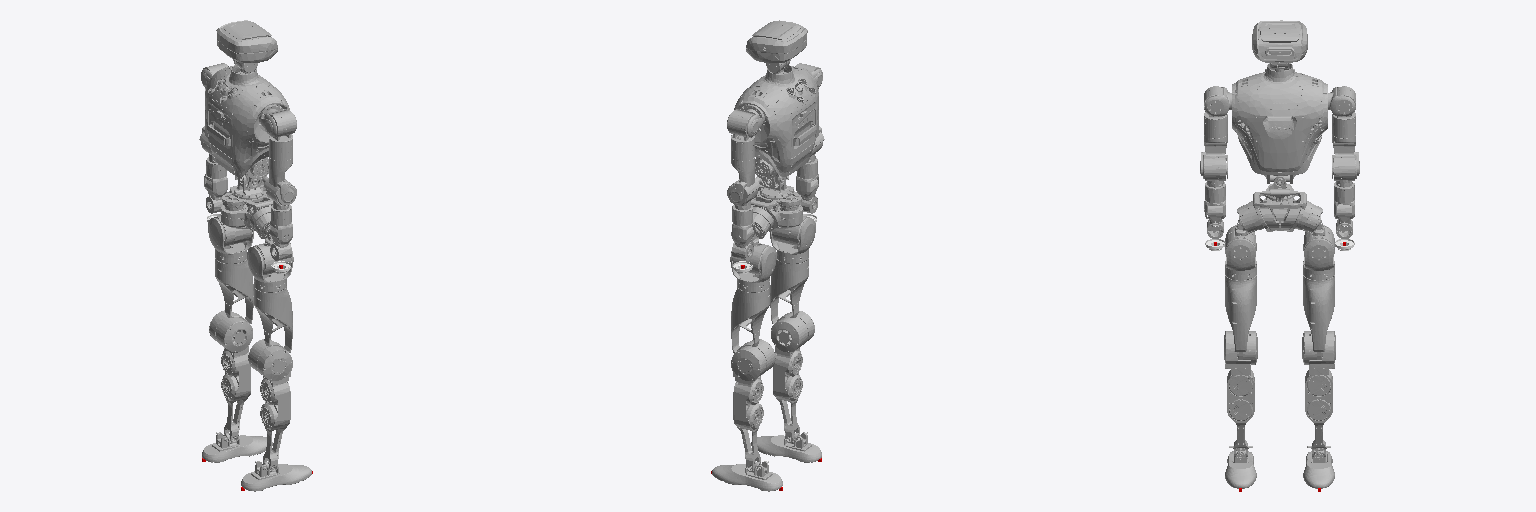
--- Facts derived from the render (not from the file) ---
3 views of the same robot in one strip: view 1: azimuth 30°, elevation 25°; view 2: azimuth 150°, elevation 25°; view 3: azimuth 270°, elevation 25° (orthographic).
Robot: HU_D04_01 — 78 links, 77 joints (63 revolute, 14 fixed); root link base_link; default pose: joints at zero except 4 at the middle of their limits (left_index_tip_joint = 1, left_middle_tip_joint = 1, left_ring_tip_joint = 1, left_pinky_tip_joint = 1).
Visible links, largest first — view 1: waist_pitch_link, right_knee_link, left_hip_yaw_link, head_pitch_link, left_knee_link, right_hip_yaw_link, base_link, right_ankle_roll_link, left_ankle_roll_link, right_shoulder_roll_link, left_hip_roll_link, right_hip_roll_link (+2 smaller); view 2: waist_pitch_link, left_knee_link, right_hip_yaw_link, head_pitch_link, right_knee_link, left_hip_yaw_link, base_link, left_ankle_roll_link, right_ankle_roll_link, left_shoulder_roll_link, right_hip_roll_link, left_hip_roll_link (+2 smaller); view 3: waist_pitch_link, base_link, left_knee_link, right_knee_link, head_pitch_link, right_hip_yaw_link, left_hip_yaw_link, left_hip_roll_link, right_hip_roll_link, right_ankle_roll_link, left_ankle_roll_link, left_elbow_link (+6 smaller).
Link boxes in pixels (<box>): waist_pitch_link: <box>205,65,289,188</box>; right_knee_link: <box>257,346,292,471</box>; left_hip_yaw_link: <box>215,258,253,352</box>; head_pitch_link: <box>216,20,277,72</box>; left_knee_link: <box>209,310,250,442</box>; right_hip_yaw_link: <box>248,286,292,373</box>; base_link: <box>221,185,272,238</box>; right_ankle_roll_link: <box>241,461,311,491</box>; left_ankle_roll_link: <box>202,432,272,462</box>; right_shoulder_roll_link: <box>269,110,295,160</box>; left_hip_roll_link: <box>208,218,253,263</box>; right_hip_roll_link: <box>247,247,293,292</box>; waist_pitch_link: <box>734,65,818,188</box>; left_knee_link: <box>731,346,766,471</box>; right_hip_yaw_link: <box>770,258,808,352</box>; head_pitch_link: <box>746,20,807,72</box>; right_knee_link: <box>773,311,814,442</box>; left_hip_yaw_link: <box>731,286,775,373</box>; base_link: <box>751,185,802,238</box>; left_ankle_roll_link: <box>712,461,782,491</box>; right_ankle_roll_link: <box>751,432,821,462</box>; left_shoulder_roll_link: <box>728,110,754,160</box>; right_hip_roll_link: <box>769,218,815,263</box>; left_hip_roll_link: <box>730,247,776,292</box>; waist_pitch_link: <box>1232,63,1327,183</box>; base_link: <box>1237,183,1322,233</box>; left_knee_link: <box>1305,331,1335,456</box>; right_knee_link: <box>1224,331,1254,456</box>; head_pitch_link: <box>1252,20,1307,68</box>; right_hip_yaw_link: <box>1225,275,1257,364</box>; left_hip_yaw_link: <box>1302,275,1334,364</box>; left_hip_roll_link: <box>1303,225,1334,280</box>; right_hip_roll_link: <box>1225,225,1256,280</box>; right_ankle_roll_link: <box>1225,446,1256,488</box>; left_ankle_roll_link: <box>1303,446,1334,488</box>; left_elbow_link: <box>1333,157,1354,202</box>.
Size in the robot's own frame: 0.2994 by 0.5293 by 1.62 metres.
Meshes: 67 distinct files referenced, 32 mesh visuals loaded (31 binary STL); not drawn: 36 (reference not matched to a file when rendering).

URDF robot description (HU_D04_01):
<?xml version="1.0" encoding="utf-8"?>
<robot
  name="HU_D04_01">

  <!-- <link name="root_link">
    <inertial>
      <origin xyz="0 0 0" rpy="0 0 0" />
      <mass value="0.001" />
      <inertia ixx="1E-10" ixy="0" ixz="0" iyy="1E-10" iyz="0" izz="1E-10" />
    </inertial>
  </link>
  <joint name="floating_base_joint" type="floating">
    <origin xyz="0.0 0.0 0.0" rpy="0 0 0" />
    <parent link="root_link" />
    <child link="base_link" />
  </joint> -->


  <link name="base_link">
    <inertial>
      <origin
        xyz="0.002916 -8E-06 0.041359"
        rpy="0 0 0" />
      <mass
        value="5.904962" />
      <inertia
        ixx="0.038209"
        ixy="4E-06"
        ixz="0.001989"
        iyy="0.013916"
        iyz="-8E-06"
        izz="0.040472" />
    </inertial>
    <visual>
      <origin
        xyz="0 0 0"
        rpy="0 0 0" />
      <geometry>
        <mesh
          filename="package://HU_D04_description/meshes/HU_D04_01/base_link.STL" />
      </geometry>
      <material
        name="">
        <color
          rgba="0.75294 0.75294 0.75294 1" />
      </material>
    </visual>
    <!-- <collision>
      <origin
        xyz="0 0 0"
        rpy="0 0 0" />
      <geometry>
        <mesh
          filename="package://HU_D04_description/meshes/HU_D04_01/base_link.STL" />
      </geometry>
    </collision> -->
  </link>
  <link name="left_hip_pitch_link">
    <inertial>
      <origin
        xyz="0.0019 0.001536 -0.086008"
        rpy="0 0 0" />
      <mass
        value="2.255011" />
      <inertia
        ixx="0.003233"
        ixy="2E-06"
        ixz="-1.3E-05"
        iyy="0.003816"
        iyz="3.5E-05"
        izz="0.002888" />
    </inertial>
    <visual>
      <origin
        xyz="0 0 0"
        rpy="0 0 0" />
      <geometry>
        <mesh
          filename="package://HU_D04_description/meshes/HU_D04_01/left_hip_pitch_link.STL" />
      </geometry>
      <material
        name="">
        <color
          rgba="0.75294 0.75294 0.75294 1" />
      </material>
    </visual>
    <!-- <collision>
      <origin
        xyz="0 0 0"
        rpy="0 0 0" />
      <geometry>
        <mesh
          filename="package://HU_D04_description/meshes/HU_D04_01/left_hip_pitch_link.STL" />
      </geometry>
    </collision> -->
  </link>
  <joint name="left_hip_pitch_joint"
    type="revolute">
    <origin
      xyz="0.017007 0.1283 0.0081917"
      rpy="0 0 0" />
    <parent
      link="base_link" />
    <child
      link="left_hip_pitch_link" />
    <axis
      xyz="0 0.90631 -0.42262" />
    <limit
      lower="-2.618"
      upper="2.618"
      effort="140"
      velocity="5" />
  </joint>
  <link name="left_hip_roll_link">
    <inertial>
      <origin
        xyz="0.00075 1E-05 -0.118609"
        rpy="0 0 0" />
      <mass
        value="2.121806" />
      <inertia
        ixx="0.004035"
        ixy="3E-06"
        ixz="-0.000137"
        iyy="0.004267"
        iyz="1E-06"
        izz="0.002342" />
    </inertial>
    <visual>
      <origin
        xyz="0 0 0"
        rpy="0 0 0" />
      <geometry>
        <mesh
          filename="package://HU_D04_description/meshes/HU_D04_01/left_hip_roll_link.STL" />
      </geometry>
      <material
        name="">
        <color
          rgba="0.75294 0.75294 0.75294 1" />
      </material>
    </visual>
    <!-- <collision>
      <origin
        xyz="0 0 0"
        rpy="0 0 0" />
      <geometry>
        <mesh
          filename="package://HU_D04_description/meshes/HU_D04_01/left_hip_roll_link.STL" />
      </geometry>
    </collision> -->
  </link>
  <joint name="left_hip_roll_joint"
    type="revolute">
    <origin
      xyz="-0.01 0.0016596 -0.0920417"
      rpy="0 0 0" />
    <parent
      link="left_hip_pitch_link" />
    <child
      link="left_hip_roll_link" />
    <axis
      xyz="1 0 0" />
    <limit
      lower="-0.8727"
      upper="2.094"
      effort="140"
      velocity="5" />
  </joint>
  <link name="left_hip_yaw_link">
    <inertial>
      <origin
        xyz="0.006364 0.000963 -0.143266"
        rpy="0 0 0" />
      <mass
        value="2.994098" />
      <inertia
        ixx="0.024104"
        ixy="9E-06"
        ixz="-0.001176"
        iyy="0.024609"
        iyz="0.000111"
        izz="0.004856" />
    </inertial>
    <visual>
      <origin
        xyz="0 0 0"
        rpy="0 0 0" />
      <geometry>
        <mesh
          filename="package://HU_D04_description/meshes/HU_D04_01/left_hip_yaw_link.STL" />
      </geometry>
      <material
        name="">
        <color
          rgba="0.75294 0.75294 0.75294 1" />
      </material>
    </visual>
    <!-- <collision>
      <origin
        xyz="0 0 0"
        rpy="0 0 0" />
      <geometry>
        <mesh
          filename="package://HU_D04_description/meshes/HU_D04_01/left_hip_yaw_link.STL" />
      </geometry>
    </collision> -->
  </link>
  <joint name="left_hip_yaw_joint"
    type="revolute">
    <origin
      xyz="0 0 -0.1774"
      rpy="0 0 0" />
    <parent
      link="left_hip_roll_link" />
    <child
      link="left_hip_yaw_link" />
    <axis
      xyz="0 0 1" />
    <limit
      lower="-2.618"
      upper="2.618"
      effort="140"
      velocity="5" />
  </joint>
  <link name="left_knee_link">
    <inertial>
      <origin
        xyz="0.008034 0.005502 -0.139341"
        rpy="0 0 0" />
      <mass
        value="3.004275" />
      <inertia
        ixx="0.026945"
        ixy="9.1E-05"
        ixz="8.3E-05"
        iyy="0.026541"
        iyz="-0.00215"
        izz="0.003135" />
    </inertial>
    <visual>
      <origin
        xyz="0 0 0"
        rpy="0 0 0" />
      <geometry>
        <mesh
          filename="package://HU_D04_description/meshes/HU_D04_01/left_knee_link.STL" />
      </geometry>
      <material
        name="">
        <color
          rgba="0.75294 0.75294 0.75294 1" />
      </material>
    </visual>
    <!-- <collision>
      <origin
        xyz="0 0 0"
        rpy="0 0 0" />
      <geometry>
        <mesh
          filename="package://HU_D04_description/meshes/HU_D04_01/left_knee_link.STL" />
      </geometry>
    </collision> -->
  </link>
  <joint name="left_knee_joint"
    type="revolute">
    <origin
      xyz="0 0 -0.1976"
      rpy="0 0 0" />
    <parent
      link="left_hip_yaw_link" />
    <child
      link="left_knee_link" />
    <axis
      xyz="0 1 0" />
    <limit
      lower="-0.087"
      upper="2.583"
      effort="140"
      velocity="5" />
  </joint>
  <link name="left_ankle_pitch_link">
    <inertial>
      <origin
        xyz="0 0 0.001077"
        rpy="0 0 0" />
      <mass
        value="0.042944" />
      <inertia
        ixx="4E-06"
        ixy="0"
        ixz="0"
        iyy="2E-06"
        iyz="0"
        izz="4E-06" />
    </inertial>
    <visual>
      <origin
        xyz="0 0 0"
        rpy="0 0 0" />
      <geometry>
        <mesh
          filename="package://HU_D04_description/meshes/HU_D04_01/left_ankle_pitch_link.STL" />
      </geometry>
      <material
        name="">
        <color
          rgba="0.75294 0.75294 0.75294 1" />
      </material>
    </visual>
    <!-- <collision>
      <origin
        xyz="0 0 0"
        rpy="0 0 0" />
      <geometry>
        <mesh
          filename="package://HU_D04_description/meshes/HU_D04_01/left_ankle_pitch_link.STL" />
      </geometry>
    </collision> -->
  </link>
  <joint name="left_ankle_pitch_joint"
    type="revolute">
    <origin
      xyz="0 0 -0.385"
      rpy="0 0 0" />
    <parent
      link="left_knee_link" />
    <child
      link="left_ankle_pitch_link" />
    <axis
      xyz="0 1 0" />
    <limit
      lower="-1.012"
      upper="0.611"
      effort="42"
      velocity="13.6" />
  </joint>
  <link name="left_ankle_roll_link">
    <inertial>
      <origin
        xyz="0.009720 0 -0.035233"
        rpy="0 0 0" />
      <mass
        value="1.206425" />
      <inertia
        ixx="0.000924"
        ixy="0"
        ixz="0.000471"
        iyy="0.004760"
        iyz="0"
        izz="0.004924" />
    </inertial>
    <visual>
      <origin
        xyz="0 0 0"
        rpy="0 0 0" />
      <geometry>
        <mesh
          filename="package://HU_D04_description/meshes/HU_D04_01/left_ankle_roll_link.STL" />
      </geometry>
      <material
        name="">
        <color
          rgba="0.75294 0.75294 0.75294 1" />
      </material>
    </visual>
    <collision>
      <origin rpy="0 0 0" xyz="0.018 0 -0.0535"/>
      <geometry>
        <box size="0.25 0.094 0.02"/>
      </geometry>
    </collision>
    <!-- <collision>
      <origin
        xyz="0 0 0"
        rpy="0 0 0" />
      <geometry>
        <mesh
          filename="package://HU_D04_description/meshes/HU_D04_01/left_ankle_roll_link.STL" />
      </geometry>
    </collision> -->
  </link>
  <joint name="left_ankle_roll_joint"
    type="revolute">
    <origin
      xyz="0 0 0"
      rpy="0 0 0" />
    <parent
      link="left_ankle_pitch_link" />
    <child
      link="left_ankle_roll_link" />
    <axis
      xyz="1 0 0" />
    <limit
      lower="-0.436"
      upper="0.436"
      effort="42"
      velocity="13.6" />
  </joint>

  <!-- Left Foot Contact -->
  <joint name="contact_foot_center_joint_L" type="fixed">
    <origin xyz="0.0 0 -0.0625" rpy="0 0 0" />
    <parent link="left_ankle_roll_link" />
    <child link="contact_foot_center_L" />
  </joint>
  <link name="contact_foot_center_L">
    <inertial>
      <origin xyz=".0 .0 .0" rpy="0 0 0" />
      <mass value="0.001" />
      <inertia ixx="0.0000001" ixy="0.0" ixz="0.0" iyy="0.0000001" iyz="0.0" izz="0.0000001" />
    </inertial>
    <visual>
      <origin xyz="0 0 0" rpy="0 0 0" />
      <geometry>
        <box size="0.01 0.01 0.01"/>
      </geometry>
      <material name="">
        <color rgba="1 0 0 1" />
      </material>
    </visual>
  </link>

  <joint name="contact_foot_heel_joint_L" type="fixed">
    <origin xyz="-0.106 0 -0.0625" rpy="0 0 0" />
    <parent link="left_ankle_roll_link" />
    <child link="contact_foot_heel_L" />
  </joint>
  <link name="contact_foot_heel_L">
    <inertial>
      <origin xyz=".0 .0 .0" rpy="0 0 0" />
      <mass value="0.001" />
      <inertia ixx="0.0000001" ixy="0.0" ixz="0.0" iyy="0.0000001" iyz="0.0" izz="0.0000001" />
    </inertial>
    <visual>
      <origin xyz="0 0 0" rpy="0 0 0" />
      <geometry>
        <box size="0.01 0.01 0.01"/>
      </geometry>
      <material name="">
        <color rgba="1 0 0 1" />
      </material>
    </visual>
  </link>

  <joint name="contact_foot_tip_joint_L" type="fixed">
    <origin xyz="0.154 0 -0.0625" rpy="0 0 0" />
    <parent link="left_ankle_roll_link" />
    <child link="contact_foot_tip_L" />
  </joint>
  <link name="contact_foot_tip_L">
    <inertial>
      <origin xyz=".0 .0 .0" rpy="0 0 0" />
      <mass value="0.001" />
      <inertia ixx="0.0000001" ixy="0.0" ixz="0.0" iyy="0.0000001" iyz="0.0" izz="0.0000001" />
    </inertial>
    <visual>
      <origin xyz="0 0 0" rpy="0 0 0" />
      <geometry>
        <box size="0.01 0.01 0.01"/>
      </geometry>
      <material name="">
        <color rgba="1 0 0 1" />
      </material>
    </visual>
  </link>

  <link name="right_hip_pitch_link">
    <inertial>
      <origin
        xyz="0.0019 -0.001536 -0.086008"
        rpy="0 0 0" />
      <mass
        value="2.253993" />
      <inertia
        ixx="0.003231"
        ixy="-1.8E-05"
        ixz="-1.2E-05"
        iyy="0.003814"
        iyz="-2E-06"
        izz="0.002888" />
    </inertial>
    <visual>
      <origin
        xyz="0 0 0"
        rpy="0 0 0" />
      <geometry>
        <mesh
          filename="package://HU_D04_description/meshes/HU_D04_01/right_hip_pitch_link.STL" />
      </geometry>
      <material
        name="">
        <color
          rgba="0.75294 0.75294 0.75294 1" />
      </material>
    </visual>
    <!-- <collision>
      <origin
        xyz="0 0 0"
        rpy="0 0 0" />
      <geometry>
        <mesh
          filename="package://HU_D04_description/meshes/HU_D04_01/right_hip_pitch_link.STL" />
      </geometry>
    </collision> -->
  </link>
  <joint name="right_hip_pitch_joint"
    type="revolute">
    <origin
      xyz="0.017007 -0.1283 0.0081917"
      rpy="0 0 0" />
    <parent
      link="base_link" />
    <child
      link="right_hip_pitch_link" />
    <axis
      xyz="0 0.90631 0.42262" />
    <limit
      lower="-2.618"
      upper="2.618"
      effort="140"
      velocity="5" />
  </joint>
  <link name="right_hip_roll_link">
    <inertial>
      <origin
        xyz="0.000764 1E-05 -0.118627"
        rpy="0 0 0" />
      <mass
        value="2.121322" />
      <inertia
        ixx="0.004031"
        ixy="3E-06"
        ixz="-0.000139"
        iyy="0.004262"
        iyz="1E-06"
        izz="0.00234" />
    </inertial>
    <visual>
      <origin
        xyz="0 0 0"
        rpy="0 0 0" />
      <geometry>
        <mesh
          filename="package://HU_D04_description/meshes/HU_D04_01/right_hip_roll_link.STL" />
      </geometry>
      <material
        name="">
        <color
          rgba="0.75294 0.75294 0.75294 1" />
      </material>
    </visual>
    <!-- <collision>
      <origin
        xyz="0 0 0"
        rpy="0 0 0" />
      <geometry>
        <mesh
          filename="package://HU_D04_description/meshes/HU_D04_01/right_hip_roll_link.STL" />
      </geometry>
    </collision> -->
  </link>
  <joint name="right_hip_roll_joint"
    type="revolute">
    <origin
      xyz="-0.01 -0.0016596 -0.0920417"
      rpy="0 0 0" />
    <parent
      link="right_hip_pitch_link" />
    <child
      link="right_hip_roll_link" />
    <axis
      xyz="1 0 0" />
    <limit
      lower="-2.094"
      upper="0.8727"
      effort="140"
      velocity="5" />
  </joint>
  <link name="right_hip_yaw_link">
    <inertial>
      <origin
        xyz="0.006367 -0.000835 -0.143269"
        rpy="0 0 0" />
      <mass
        value="2.994098" />
      <inertia
        ixx="0.024106"
        ixy="-8E-06"
        ixz="-0.001175"
        iyy="0.02461"
        iyz="-0.000165"
        izz="0.004856" />
    </inertial>
    <visual>
      <origin
        xyz="0 0 0"
        rpy="0 0 0" />
      <geometry>
        <mesh
          filename="package://HU_D04_description/meshes/HU_D04_01/right_hip_yaw_link.STL" />
      </geometry>
      <material
        name="">
        <color
          rgba="0.75294 0.75294 0.75294 1" />
      </material>
    </visual>
    <!-- <collision>
      <origin
        xyz="0 0 0"
        rpy="0 0 0" />
      <geometry>
        <mesh
          filename="package://HU_D04_description/meshes/HU_D04_01/right_hip_yaw_link.STL" />
      </geometry>
    </collision> -->
  </link>
  <joint name="right_hip_yaw_joint"
    type="revolute">
    <origin
      xyz="0 0 -0.1774"
      rpy="0 0 0" />
    <parent
      link="right_hip_roll_link" />
    <child
      link="right_hip_yaw_link" />
    <axis
      xyz="0 0 1" />
    <limit
      lower="-2.618"
      upper="2.618"
      effort="140"
      velocity="5" />
  </joint>
  <link name="right_knee_link">
    <inertial>
      <origin
        xyz="0.007541 -0.00542 -0.140219"
        rpy="0 0 0" />
      <mass
        value="2.944928" />
      <inertia
        ixx="0.026634"
        ixy="-9.1E-05"
        ixz="0.000115"
        iyy="0.026187"
        iyz="0.002135"
        izz="0.00303" />
    </inertial>
    <visual>
      <origin
        xyz="0 0 0"
        rpy="0 0 0" />
      <geometry>
        <mesh
          filename="package://HU_D04_description/meshes/HU_D04_01/right_knee_link.STL" />
      </geometry>
      <material
        name="">
        <color
          rgba="0.75294 0.75294 0.75294 1" />
      </material>
    </visual>
    <!-- <collision>
      <origin
        xyz="0 0 0"
        rpy="0 0 0" />
      <geometry>
        <mesh
          filename="package://HU_D04_description/meshes/HU_D04_01/right_knee_link.STL" />
      </geometry>
    </collision> -->
  </link>
  <joint name="right_knee_joint"
    type="revolute">
    <origin
      xyz="0 0 -0.1976"
      rpy="0 0 0" />
    <parent
      link="right_hip_yaw_link" />
    <child
      link="right_knee_link" />
    <axis
      xyz="0 1 0" />
    <limit
      lower="-0.087"
      upper="2.583"
      effort="140"
      velocity="5" />
  </joint>
  <link name="right_ankle_pitch_link">
    <inertial>
      <origin
        xyz="0 0 0.001077"
        rpy="0 0 0" />
      <mass
        value="0.042944" />
      <inertia
        ixx="4E-06"
        ixy="0"
        ixz="0"
        iyy="2E-06"
        iyz="0"
        izz="4E-06" />
    </inertial>
    <visual>
      <origin
        xyz="0 0 0"
        rpy="0 0 0" />
      <geometry>
        <mesh
          filename="package://HU_D04_description/meshes/HU_D04_01/right_ankle_pitch_link.STL" />
      </geometry>
      <material
        name="">
        <color
          rgba="0.75294 0.75294 0.75294 1" />
      </material>
    </visual>
    <!-- <collision>
      <origin
        xyz="0 0 0"
        rpy="0 0 0" />
      <geometry>
        <mesh
          filename="package://HU_D04_description/meshes/HU_D04_01/right_ankle_pitch_link.STL" />
      </geometry>
    </collision> -->
  </link>
  <joint name="right_ankle_pitch_joint"
    type="revolute">
    <origin
      xyz="0 0 -0.385"
      rpy="0 0 0" />
    <parent
      link="right_knee_link" />
    <child
      link="right_ankle_pitch_link" />
    <axis
      xyz="0 1 0" />
    <limit
      lower="-1.012"
      upper="0.611"
      effort="42"
      velocity="13.6" />
  </joint>
  <link name="right_ankle_roll_link">
    <inertial>
      <origin
        xyz="0.009720 0 -0.035233"
        rpy="0 0 0" />
      <mass
        value="1.206425" />
      <inertia
        ixx="0.000924"
        ixy="0"
        ixz="0.000471"
        iyy="0.004760"
        iyz="0"
        izz="0.004924" />
    </inertial>
    <visual>
      <origin
        xyz="0 0 0"
        rpy="0 0 0" />
      <geometry>
        <mesh
          filename="package://HU_D04_description/meshes/HU_D04_01/right_ankle_roll_link.STL" />
      </geometry>
      <material
        name="">
        <color
          rgba="0.75294 0.75294 0.75294 1" />
      </material>
    </visual>
    <collision>
      <origin rpy="0 0 0" xyz="0.018 0 -0.0535"/>
      <geometry>
        <box size="0.25 0.094 0.02"/>
      </geometry>
    </collision>
    <!-- <collision>
      <origin
        xyz="0 0 0"
        rpy="0 0 0" />
      <geometry>
        <mesh
          filename="package://HU_D04_description/meshes/HU_D04_01/right_ankle_roll_link.STL" />
      </geometry>
    </collision> -->
  </link>
  <joint name="right_ankle_roll_joint"
    type="revolute">
    <origin
      xyz="0 0 0"
      rpy="0 0 0" />
    <parent
      link="right_ankle_pitch_link" />
    <child
      link="right_ankle_roll_link" />
    <axis
      xyz="1 0 0" />
    <limit
      lower="-0.436"
      upper="0.436"
      effort="42"
      velocity="13.6" />
  </joint>

  <!-- Right Foot Contact -->
  <joint name="contact_foot_center_joint_R" type="fixed">
    <origin xyz="0.0 0 -0.0625" rpy="0 0 0" />
    <parent link="right_ankle_roll_link" />
    <child link="contact_foot_center_R" />
  </joint>
  <link name="contact_foot_center_R">
    <inertial>
      <origin xyz=".0 .0 .0" rpy="0 0 0" />
      <mass value="0.001" />
      <inertia ixx="0.0000001" ixy="0.0" ixz="0.0" iyy="0.0000001" iyz="0.0" izz="0.0000001" />
    </inertial>
    <visual>
      <origin xyz="0 0 0" rpy="0 0 0" />
      <geometry>
        <box size="0.01 0.01 0.01"/>
      </geometry>
      <material name="">
        <color rgba="1 0 0 1" />
      </material>
    </visual>
  </link>

  <joint name="contact_foot_heel_joint_R" type="fixed">
    <origin xyz="-0.106 0 -0.0625" rpy="0 0 0" />
    <parent link="right_ankle_roll_link" />
    <child link="contact_foot_heel_R" />
  </joint>
  <link name="contact_foot_heel_R">
    <inertial>
      <origin xyz=".0 .0 .0" rpy="0 0 0" />
      <mass value="0.001" />
      <inertia ixx="0.0000001" ixy="0.0" ixz="0.0" iyy="0.0000001" iyz="0.0" izz="0.0000001" />
    </inertial>
    <visual>
      <origin xyz="0 0 0" rpy="0 0 0" />
      <geometry>
        <box size="0.01 0.01 0.01"/>
      </geometry>
      <material name="">
        <color rgba="1 0 0 1" />
      </material>
    </visual>
  </link>

  <joint name="contact_foot_tip_joint_R" type="fixed">
    <origin xyz="0.154 0 -0.0625" rpy="0 0 0" />
    <parent link="right_ankle_roll_link" />
    <child link="contact_foot_tip_R" />
  </joint>
  <link name="contact_foot_tip_R">
    <inertial>
      <origin xyz=".0 .0 .0" rpy="0 0 0" />
      <mass value="0.001" />
      <inertia ixx="0.0000001" ixy="0.0" ixz="0.0" iyy="0.0000001" iyz="0.0" izz="0.0000001" />
    </inertial>
    <visual>
      <origin xyz="0 0 0" rpy="0 0 0" />
      <geometry>
        <box size="0.01 0.01 0.01"/>
      </geometry>
      <material name="">
        <color rgba="1 0 0 1" />
      </material>
    </visual>
  </link>

  <link name="waist_yaw_link">
    <inertial>
      <origin
        xyz="0.019885 -0.000163 0.029632"
        rpy="0 0 0" />
      <mass
        value="0.654749" />
      <inertia
        ixx="0.000616"
        ixy="-5E-06"
        ixz="-2.1E-05"
        iyy="0.001108"
        iyz="1E-06"
        izz="0.001156" />
    </inertial>
    <visual>
      <origin
        xyz="0 0 0"
        rpy="0 0 0" />
      <geometry>
        <mesh
          filename="package://HU_D04_description/meshes/HU_D04_01/waist_yaw_link.STL" />
      </geometry>
      <material
        name="">
        <color
          rgba="0.75294 0.75294 0.75294 1" />
      </material>
    </visual>
    <!-- <collision>
      <origin
        xyz="0 0 0"
        rpy="0 0 0" />
      <geometry>
        <mesh
          filename="package://HU_D04_description/meshes/HU_D04_01/waist_yaw_link.STL" />
      </geometry>
    </collision> -->
  </link>
  <joint name="waist_yaw_joint"
    type="revolute">
    <origin
      xyz="0 0 0.10239"
      rpy="0 0 0" />
    <parent
      link="base_link" />
    <child
      link="waist_yaw_link" />
    <axis
      xyz="0 0 1" />
    <limit
      lower="-2.618"
      upper="2.618"
      effort="42"
      velocity="13.6" />
  </joint>
  <link name="waist_roll_link">
    <inertial>
      <origin
        xyz="0 0 -0.000149"
        rpy="0 0 0" />
      <mass
        value="0.291501" />
      <inertia
        ixx="0.00016"
        ixy="0"
        ixz="0"
        iyy="3.6E-05"
        iyz="0"
        izz="0.000164" />
    </inertial>
    <visual>
      <origin
        xyz="0 0 0"
        rpy="0 0 0" />
      <geometry>
        <mesh
          filename="package://HU_D04_description/meshes/HU_D04_01/waist_roll_link.STL" />
      </geometry>
      <material
        name="">
        <color
          rgba="0.75294 0.75294 0.75294 1" />
      </material>
    </visual>
    <!-- <collision>
      <origin
        xyz="0 0 0"
        rpy="0 0 0" />
      <geometry>
        <mesh
          filename="package://HU_D04_description/meshes/HU_D04_01/waist_roll_link.STL" />
      </geometry>
    </collision> -->
  </link>
  <joint name="waist_roll_joint"
    type="revolute">
    <origin
      xyz="0 0 0.057"
      rpy="0 0 0" />
    <parent
      link="waist_yaw_link" />
    <child
      link="waist_roll_link" />
    <axis
      xyz="1 0 0" />
    <limit
      lower="-0.524"
      upper="0.524"
      effort="42"
      velocity="13.6" />
  </joint>
  <link name="waist_pitch_link">
    <inertial>
      <origin
        xyz="-0.006815 0.000038 0.196229"
        rpy="0 0 0" />
      <mass
        value="11.882244" />
      <inertia
        ixx="0.169231"
        ixy="0.000065"
        ixz="0.000953"
        iyy="0.136241"
        iyz="-0.000057"
        izz="0.104458" />
    </inertial>
    <visual>
      <origin
        xyz="0 0 0"
        rpy="0 0 0" />
      <geometry>
        <mesh
          filename="package://HU_D04_description/meshes/HU_D04_01/waist_pitch_link.STL" />
      </geometry>
      <material
        name="">
        <color
          rgba="0.75294 0.75294 0.75294 1" />
      </material>
    </visual>
    <!-- <collision>
      <origin
        xyz="0 0 0"
        rpy="0 0 0" />
      <geometry>
        <mesh
          filename="package://HU_D04_description/meshes/HU_D04_01/waist_pitch_link.STL" />
      </geometry>
    </collision> -->
  </link>
  <joint name="waist_pitch_joint"
    type="revolute">
    <origin
      xyz="0 0 0"
      rpy="0 0 0" />
    <parent
      link="waist_roll_link" />
    <child
      link="waist_pitch_link" />
    <axis
      xyz="0 1 0" />
    <limit
      lower="-0.524"
      upper="0.785"
      effort="42"
      velocity="13.6" />
  </joint>
  
  <link name="left_shoulder_pitch_link">
    <inertial>
      <origin
        xyz="0.003151 0.031104 -2.2E-05"
        rpy="0 0 0" />
      <mass
        value="0.244765" />
      <inertia
        ixx="0.000253"
        ixy="-2.3E-05"
        ixz="0"
        iyy="0.000367"
        iyz="0"
        izz="0.000429" />
    </inertial>
    <visual>
      <origin
        xyz="0 0 0"
        rpy="0 0 0" />
      <geometry>
        <mesh
          filename="package://HU_D04_description/meshes/HU_D04_01/left_shoulder_pitch_link.STL" />
      </geometry>
      <material
        name="">
        <color
          rgba="0.75294 0.75294 0.75294 1" />
      </material>
    </visual>
    <!-- <collision>
      <origin
        xyz="0 0 0"
        rpy="0 0 0" />
      <geometry>
        <mesh
          filename="package://HU_D04_description/meshes/HU_D04_01/left_shoulder_pitch_link.STL" />
      </geometry>
    </collision> -->
  </link>
  <joint name="left_shoulder_pitch_joint"
    type="revolute">
    <origin
      xyz="0 0.1589 0.2822"
      rpy="0 0 0" />
    <parent
      link="waist_pitch_link" />
    <child
      link="left_shoulder_pitch_link" />
    <axis
      xyz="0 1 0" />
    <limit
      lower="-2.792"
      upper="2.792"
      effort="42"
      velocity="19.6" />
  </joint>
  <link name="left_shoulder_roll_link">
    <inertial>
      <origin
        xyz="0.003525 8.8E-05 -0.046695"
        rpy="0 0 0" />
      <mass
        value="1.740745" />
      <inertia
        ixx="0.004948"
        ixy="0"
        ixz="-0.000258"
        iyy="0.004931"
        iyz="2E-06"
        izz="0.001384" />
    </inertial>
    <visual>
      <origin
        xyz="0 0 0"
        rpy="0 0 0" />
      <geometry>
        <mesh
          filename="package://HU_D04_description/meshes/HU_D04_01/left_shoulder_roll_link.STL" />
      </geometry>
      <material
        name="">
        <color
          rgba="0.75294 0.75294 0.75294 1" />
      </material>
    </visual>
    <!-- <collision>
      <origin
        xyz="0 0 0"
        rpy="0 0 0" />
      <geometry>
        <mesh
          filename="package://HU_D04_description/meshes/HU_D04_01/left_shoulder_roll_link.STL" />
      </geometry>
    </collision> -->
  </link>
  <joint name="left_shoulder_roll_joint"
    type="revolute">
    <origin
      xyz="0 0.055 0"
      rpy="0 0 0" />
    <parent
      link="left_shoulder_pitch_link" />
    <child
      link="left_shoulder_roll_link" />
    <axis
      xyz="1 0 0" />
    <limit
      lower="-0.087"
      upper="3.229"
      effort="42"
      velocity="19.6" />
  </joint>
  <link name="left_shoulder_yaw_link">
    <inertial>
      <origin
        xyz="-0.010067 0.003571 -0.065207"
        rpy="0 0 0" />
      <mass
        value="0.307657" />
      <inertia
        ixx="0.000874"
        ixy="-8E-06"
        ixz="-1.9E-05"
        iyy="0.000738"
        iyz="3.4E-05"
        izz="0.000405" />
    </inertial>
    <visual>
      <origin
        xyz="0 0 0"
        rpy="0 0 0" />
      <geometry>
        <mesh
          filename="package://HU_D04_description/meshes/HU_D04_01/left_shoulder_yaw_link.STL" />
      </geometry>
      <material
        name="">
        <color
          rgba="0.75294 0.75294 0.75294 1" />
      </material>
    </visual>
    <!-- <collision>
      <origin
        xyz="0 0 0"
        rpy="0 0 0" />
      <geometry>
        <mesh
          filename="package://HU_D04_description/meshes/HU_D04_01/left_shoulder_yaw_link.STL" />
      </geometry>
    </collision> -->
  </link>
  <joint name="left_shoulder_yaw_joint"
    type="revolute">
    <origin
      xyz="0 0 -0.1306"
      rpy="0 0 0" />
    <parent
      link="left_shoulder_roll_link" />
    <child
      link="left_shoulder_yaw_link" />
    <axis
      xyz="0 0 1" />
    <limit
      lower="-3.403"
      upper="1.571"
      effort="42"
      velocity="19.6" />
  </joint>
  <link name="left_elbow_link">
    <inertial>
      <origin
        xyz="0.000057 0.004497 -0.027441"
        rpy="0 0 0" />
      <mass
        value="1.275459" />
      <inertia
        ixx="0.002852"
        ixy="-0.000003"
        ixz="0.000017"
        iyy="0.002876"
        iyz="-0.000129"
        izz="0.000888" />
    </inertial>
    <visual>
      <origin
        xyz="0 0 0"
        rpy="0 0 0" />
      <geometry>
        <mesh
          filename="package://HU_D04_description/meshes/HU_D04_01/left_elbow_link.STL" />
      </geometry>
      <material
        name="">
        <color
          rgba="0.75294 0.75294 0.75294 1" />
      </material>
    </visual>
    <!-- <collision>
      <origin
        xyz="0 0 0"
        rpy="0 0 0" />
      <geometry>
        <mesh
          filename="package://HU_D04_description/meshes/HU_D04_01/left_elbow_link.STL" />
      </geometry>
    </collision> -->
  </link>
  <joint name="left_elbow_joint"
    type="revolute">
    <origin
      xyz="0 0 -0.1157"
      rpy="0 0 0" />
    <parent
      link="left_shoulder_yaw_link" />
    <child
      link="left_elbow_link" />
    <axis
      xyz="0 1 0" />
    <limit
      lower="-2.443"
      upper="1.571"
      effort="42"
      velocity="19.6" />
  </joint>
  <link name="left_wrist_yaw_link">
    <inertial>
      <origin
        xyz="-0.002420 0.000421 -0.014840"
        rpy="0 0 0" />
      <mass
        value="0.132906" />
      <inertia
        ixx="0.000145"
        ixy="0"
        ixz="0"
        iyy="0.000086"
        iyz="0.000001"
        izz="0.000142" />
    </inertial>
    <visual>
      <origin
        xyz="0 0 0"
        rpy="0 0 0" />
      <geometry>
        <mesh
          filename="package://HU_D04_description/meshes/HU_D04_01/left_wrist_yaw_link.STL" />
      </geometry>
      <material
        name="">
        <color
          rgba="0.75294 0.75294 0.75294 1" />
      </material>
    </visual>
    <!-- <collision>
      <origin
        xyz="0 0 0"
        rpy="0 0 0" />
      <geometry>
        <mesh
          filename="package://HU_D04_description/meshes/HU_D04_01/left_wrist_yaw_link.STL" />
      </geometry>
    </collision> -->
  </link>
  <joint name="left_wrist_yaw_joint"
    type="revolute">
    <origin
      xyz="0 0.001 -0.1188"
      rpy="0 0 0" />
    <parent
      link="left_elbow_link" />
    <child
      link="left_wrist_yaw_link" />
    <axis
      xyz="0 0 1" />
    <limit
      lower="-2.356"
      upper="0.785"
      effort="19"
      velocity="13" />
  </joint>
  <link name="left_wrist_pitch_link">
    <inertial>
      <origin
        xyz="0.001436 0.001303 -0.032233"
        rpy="0 0 0" />
      <mass
        value="0.658602" />
      <inertia
        ixx="0.000952"
        ixy="0.000001"
        ixz="0.000028"
        iyy="0.000963"
        iyz="-0.000024"
        izz="0.000296" />
    </inertial>
    <visual>
      <origin
        xyz="0 0 0"
        rpy="0 0 0" />
      <geometry>
        <mesh
          filename="package://HU_D04_description/meshes/HU_D04_01/left_wrist_pitch_link.STL" />
      </geometry>
      <material
        name="">
        <color
          rgba="0.75294 0.75294 0.75294 1" />
      </material>
    </visual>
    <!-- <collision>
      <origin
        xyz="0 0 0"
        rpy="0 0 0" />
      <geometry>
        <mesh
          filename="package://HU_D04_description/meshes/HU_D04_01/left_wrist_pitch_link.STL" />
      </geometry>
    </collision> -->
  </link>
  <joint name="left_wrist_pitch_joint"
    type="revolute">
    <origin
      xyz="0 0 -0.0342"
      rpy="0 0 0" />
    <parent
      link="left_wrist_yaw_link" />
    <child
      link="left_wrist_pitch_link" />
    <axis
      xyz="0 1 0" />
    <limit
      lower="-1.571"
      upper="1.571"
      effort="19"
      velocity="13" />
  </joint>
  <link name="left_wrist_roll_link">
    <inertial>
      <origin
        xyz="-0.00051 -8.9E-05 -0.029603"
        rpy="0 0 0" />
      <mass
        value="0.302626" />
      <inertia
        ixx="0.000231"
        ixy="0"
        ixz="0.000001"
        iyy="0.000313"
        iyz="0"
        izz="0.000308" />
    </inertial>
    <visual>
      <origin
        xyz="0 0 0"
        rpy="0 0 0" />
      <geometry>
        <mesh
          filename="package://HU_D04_description/meshes/HU_D04_01/left_wrist_roll_short_link.STL" />
      </geometry>
      <material
        name="">
        <color
          rgba="0.75294 0.75294 0.75294 1" />
      </material>
    </visual>
    <!-- <collision>
      <origin
        xyz="0 0 0"
        rpy="0 0 0" />
      <geometry>
        <mesh
          filename="package://HU_D04_description/meshes/HU_D04_01/left_wrist_roll_short_link.STL" />
      </geometry>
    </collision> -->
  </link>
  <joint name="left_wrist_roll_joint"
    type="revolute">
    <origin
      xyz="0 0 -0.065"
      rpy="0 0 0" />
    <parent
      link="left_wrist_pitch_link" />
    <child
      link="left_wrist_roll_link" />
    <axis
      xyz="1 0 0" />
    <limit
      lower="-1.571"
      upper="1.571"
      effort="19"
      velocity="13" />
  </joint>

  <!-- Left hand Contact -->
  <joint name="left_hand_contact_joint" type="fixed">
    <origin xyz="0 0 -0.058" rpy="0 0 0" />
    <parent link="left_wrist_roll_link" />
    <child link="left_hand_contact" />
  </joint>
  <link name="left_hand_contact">
    <inertial>
      <origin xyz=".0 .0 .0" rpy="0 0 0" />
      <mass value="0.001" />
      <inertia 
        ixx="0.0000001" 
        ixy="0.0" 
        ixz="0.0" 
        iyy="0.0000001" 
        iyz="0.0" 
        izz="0.0000001" />
    </inertial>
    <visual>
      <origin xyz="0 0 0" rpy="0 0 0" />
      <geometry>
        <box size="0.01 0.01 0.01"/>
      </geometry>
      <material name="">
        <color rgba="1 0 0 1" />
      </material>
    </visual>
  </link>

  <!-- Left hand For Manipulation -->
  <joint name="left_hand_manip_joint" type="fixed">
    <origin xyz="0 0 -0.058" rpy="0 1.5708 0" />
    <parent link="left_wrist_roll_link" />
    <child link="left_hand_manip" />
  </joint>
  <link name="left_hand_manip">
    <inertial>
      <origin xyz=".0 .0 .0" rpy="0 0 0" />
      <mass value="0.001" />
      <inertia 
        ixx="0.0000001" 
        ixy="0.0" 
        ixz="0.0" 
        iyy="0.0000001" 
        iyz="0.0" 
        izz="0.0000001" />
    </inertial>
    <visual>
      <origin xyz="0 0 0" rpy="0 0 0" />
      <geometry>
        <box size="0.01 0.01 0.01"/>
      </geometry>
      <material name="">
        <color rgba="1 0 0 1" />
      </material>
    </visual>
  </link>

  <link name="right_shoulder_pitch_link">
    <inertial>
      <origin
        xyz="0.003151 -0.031104 -2.2E-05"
        rpy="0 0 0" />
      <mass
        value="0.244765" />
      <inertia
        ixx="0.000253"
        ixy="2.3E-05"
        ixz="0"
        iyy="0.000367"
        iyz="0"
        izz="0.000429" />
    </inertial>
    <visual>
      <origin
        xyz="0 0 0"
        rpy="0 0 0" />
      <geometry>
        <mesh
          filename="package://HU_D04_description/meshes/HU_D04_01/right_shoulder_pitch_link.STL" />
      </geometry>
      <material
        name="">
        <color
          rgba="0.75294 0.75294 0.75294 1" />
      </material>
    </visual>
    <!-- <collision>
      <origin
        xyz="0 0 0"
        rpy="0 0 0" />
      <geometry>
        <mesh
          filename="package://HU_D04_description/meshes/HU_D04_01/right_shoulder_pitch_link.STL" />
      </geometry>
    </collision> -->
  </link>
  <joint name="right_shoulder_pitch_joint"
    type="revolute">
    <origin
      xyz="0 -0.1589 0.2822"
      rpy="0 0 0" />
    <parent
      link="waist_pitch_link" />
    <child
      link="right_shoulder_pitch_link" />
    <axis
      xyz="0 1 0" />
    <limit
      lower="-2.792"
      upper="2.792"
      effort="42"
      velocity="19.6" />
  </joint>
  <link name="right_shoulder_roll_link">
    <inertial>
      <origin
        xyz="0.003553 8E-05 -0.046159"
        rpy="0 0 0" />
      <mass
        value="1.727406" />
      <inertia
        ixx="0.00488"
        ixy="2E-06"
        ixz="-0.000255"
        iyy="0.004864"
        iyz="1E-06"
        izz="0.001378" />
    </inertial>
    <visual>
      <origin
        xyz="0 0 0"
        rpy="0 0 0" />
      <geometry>
        <mesh
          filename="package://HU_D04_description/meshes/HU_D04_01/right_shoulder_roll_link.STL" />
      </geometry>
      <material
        name="">
        <color
          rgba="0.75294 0.75294 0.75294 1" />
      </material>
    </visual>
    <!-- <collision>
      <origin
        xyz="0 0 0"
        rpy="0 0 0" />
      <geometry>
        <mesh
          filename="package://HU_D04_description/meshes/HU_D04_01/right_shoulder_roll_link.STL" />
      </geometry>
    </collision> -->
  </link>
  <joint name="right_shoulder_roll_joint"
    type="revolute">
    <origin
      xyz="0 -0.055 0"
      rpy="0 0 0" />
    <parent
      link="right_shoulder_pitch_link" />
    <child
      link="right_shoulder_roll_link" />
    <axis
      xyz="1 0 0" />
    <limit
      lower="-3.229"
      upper="0.087"
      effort="42"
      velocity="19.6" />
  </joint>
  <link name="right_shoulder_yaw_link">
    <inertial>
      <origin
        xyz="-0.009999 -0.003523 -0.06579"
        rpy="0 0 0" />
      <mass
        value="0.306436" />
      <inertia
        ixx="0.000871"
        ixy="9E-06"
        ixz="-1.9E-05"
        iyy="0.000736"
        iyz="-3.8E-05"
        izz="0.000405" />
    </inertial>
    <visual>
      <origin
        xyz="0 0 0"
        rpy="0 0 0" />
      <geometry>
        <mesh
          filename="package://HU_D04_description/meshes/HU_D04_01/right_shoulder_yaw_link.STL" />
      </geometry>
      <material
        name="">
        <color
          rgba="0.75294 0.75294 0.75294 1" />
      </material>
    </visual>
    <!-- <collision>
      <origin
        xyz="0 0 0"
        rpy="0 0 0" />
      <geometry>
        <mesh
          filename="package://HU_D04_description/meshes/HU_D04_01/right_shoulder_yaw_link.STL" />
      </geometry>
    </collision> -->
  </link>
  <joint name="right_shoulder_yaw_joint"
    type="revolute">
    <origin
      xyz="0 0 -0.1306"
      rpy="0 0 0" />
    <parent
      link="right_shoulder_roll_link" />
    <child
      link="right_shoulder_yaw_link" />
    <axis
      xyz="0 0 1" />
    <limit
      lower="-1.571"
      upper="3.403"
      effort="42"
      velocity="19.6" />
  </joint>
  <link name="right_elbow_link">
    <inertial>
      <origin
        xyz="0.000057 -0.004497 -0.027441"
        rpy="0 0 0" />
      <mass
        value="1.275459" />
      <inertia
        ixx="0.002852"
        ixy="0.000003"
        ixz="0.000017"
        iyy="0.002876"
        iyz="0.000129"
        izz="0.000888" />
    </inertial>
    <visual>
      <origin
        xyz="0 0 0"
        rpy="0 0 0" />
      <geometry>
        <mesh
          filename="package://HU_D04_description/meshes/HU_D04_01/right_elbow_link.STL" />
      </geometry>
      <material
        name="">
        <color
          rgba="0.75294 0.75294 0.75294 1" />
      </material>
    </visual>
    <!-- <collision>
      <origin
        xyz="0 0 0"
        rpy="0 0 0" />
      <geometry>
        <mesh
          filename="package://HU_D04_description/meshes/HU_D04_01/right_elbow_link.STL" />
      </geometry>
    </collision> -->
  </link>
  <joint name="right_elbow_joint"
    type="revolute">
    <origin
      xyz="0 0 -0.1157"
      rpy="0 0 0" />
    <parent
      link="right_shoulder_yaw_link" />
    <child
      link="right_elbow_link" />
    <axis
      xyz="0 1 0" />
    <limit
      lower="-2.443"
      upper="1.571"
      effort="42"
      velocity="19.6" />
  </joint>
  <link name="right_wrist_yaw_link">
    <inertial>
      <origin
        xyz="-0.002420 -0.000421 -0.014840"
        rpy="0 0 0" />
      <mass
        value="0.132906" />
      <inertia
        ixx="0.000145"
        ixy="0"
        ixz="0"
        iyy="0.000086"
        iyz="-0.000001"
        izz="0.000142" />
    </inertial>
    <visual>
      <origin
        xyz="0 0 0"
        rpy="0 0 0" />
      <geometry>
        <mesh
          filename="package://HU_D04_description/meshes/HU_D04_01/right_wrist_yaw_link.STL" />
      </geometry>
      <material
        name="">
        <color
          rgba="0.75294 0.75294 0.75294 1" />
      </material>
    </visual>
    <!-- <collision>
      <origin
        xyz="0 0 0"
        rpy="0 0 0" />
      <geometry>
        <mesh
          filename="package://HU_D04_description/meshes/HU_D04_01/right_wrist_yaw_link.STL" />
      </geometry>
    </collision> -->
  </link>
  <joint name="right_wrist_yaw_joint"
    type="revolute">
    <origin
      xyz="0 -0.001 -0.1188"
      rpy="0 0 0" />
    <parent
      link="right_elbow_link" />
    <child
      link="right_wrist_yaw_link" />
    <axis
      xyz="0 0 1" />
    <limit
      lower="-0.785"
      upper="2.356"
      effort="19"
      velocity="13" />
  </joint>
  <link name="right_wrist_pitch_link">
    <inertial>
      <origin
        xyz="0.001436 -0.001303 -0.032233"
        rpy="0 0 0" />
      <mass
        value="0.658602" />
      <inertia
        ixx="0.000952"
        ixy="-0.000001"
        ixz="0.000028"
        iyy="0.000963"
        iyz="0.000024"
        izz="0.000296" />
    </inertial>
    <visual>
      <origin
        xyz="0 0 0"
        rpy="0 0 0" />
      <geometry>
        <mesh
          filename="package://HU_D04_description/meshes/HU_D04_01/right_wrist_pitch_link.STL" />
      </geometry>
      <material
        name="">
        <color
          rgba="0.75294 0.75294 0.75294 1" />
      </material>
    </visual>
    <!-- <collision>
      <origin
        xyz="0 0 0"
        rpy="0 0 0" />
      <geometry>
        <mesh
          filename="package://HU_D04_description/meshes/HU_D04_01/right_wrist_pitch_link.STL" />
      </geometry>
    </collision> -->
  </link>
  <joint name="right_wrist_pitch_joint"
    type="revolute">
    <origin
      xyz="0 0 -0.0342"
      rpy="0 0 0" />
    <parent
      link="right_wrist_yaw_link" />
    <child
      link="right_wrist_pitch_link" />
    <axis
      xyz="0 1 0" />
    <limit
      lower="-1.571"
      upper="1.571"
      effort="19"
      velocity="13" />
  </joint>
  <link name="right_wrist_roll_link">
    <inertial>
      <origin
        xyz="-0.000511 -8.9E-05 -0.029603"
        rpy="0 0 0" />
      <mass
        value="0.302626" />
      <inertia
        ixx="0.000231"
        ixy="0"
        ixz="0.000001"
        iyy="0.000313"
        iyz="0"
        izz="0.000308" />
    </inertial>
    <visual>
      <origin
        xyz="0 0 0"
        rpy="0 0 0" />
      <geometry>
        <mesh
          filename="package://HU_D04_description/meshes/HU_D04_01/right_wrist_roll_short_link.STL" />
      </geometry>
      <material
        name="">
        <color
          rgba="0.75294 0.75294 0.75294 1" />
      </material>
    </visual>
    <!-- <collision>
      <origin
        xyz="0 0 0"
        rpy="0 0 0" />
      <geometry>
        <mesh
          filename="package://HU_D04_description/meshes/HU_D04_01/right_wrist_roll_short_link.STL" />
      </geometry>
    </collision> -->
  </link>
  <joint name="right_wrist_roll_joint"
    type="revolute">
    <origin
      xyz="0 0 -0.065"
      rpy="0 0 0" />
    <parent
      link="right_wrist_pitch_link" />
    <child
      link="right_wrist_roll_link" />
    <axis
      xyz="1 0 0" />
    <limit
      lower="-1.571"
      upper="1.571"
      effort="19"
      velocity="13" />
  </joint>

  <!-- Right hand Contact -->
  <joint name="right_hand_contact_joint" type="fixed">
    <origin xyz="0 0 -0.058" rpy="0 0 0" />
    <parent link="right_wrist_roll_link" />
    <child link="right_hand_contact" />
  </joint>
  <link name="right_hand_contact">
    <inertial>
      <origin xyz=".0 .0 .0" rpy="0 0 0" />
      <mass value="0.001" />
      <inertia 
        ixx="0.0000001" 
        ixy="0.0" 
        ixz="0.0" 
        iyy="0.0000001" 
        iyz="0.0" 
        izz="0.0000001" />
    </inertial>
    <visual>
      <origin xyz="0 0 0" rpy="0 0 0" />
      <geometry>
        <box size="0.01 0.01 0.01"/>
      </geometry>
      <material name="">
        <color rgba="1 0 0 1" />
      </material>
    </visual>
  </link>

  <!-- Right hand For Manipulation -->
  <joint name="right_hand_manip_joint" type="fixed">
    <origin xyz="0 0 -0.058" rpy="0 1.5708 0" />
    <parent link="right_wrist_roll_link" />
    <child link="right_hand_manip" />
  </joint>
  <link name="right_hand_manip">
    <inertial>
      <origin xyz=".0 .0 .0" rpy="0 0 0" />
      <mass value="0.001" />
      <inertia 
        ixx="0.0000001" 
        ixy="0.0" 
        ixz="0.0" 
        iyy="0.0000001" 
        iyz="0.0" 
        izz="0.0000001" />
    </inertial>
    <visual>
      <origin xyz="0 0 0" rpy="0 0 0" />
      <geometry>
        <box size="0.01 0.01 0.01"/>
      </geometry>
      <material name="">
        <color rgba="1 0 0 1" />
      </material>
    </visual>
  </link>
  
  <link name="head_yaw_link">
    <inertial>
      <origin
        xyz="-7E-05 0.002132 0.037884"
        rpy="0 0 0" />
      <mass
        value="0.35819" />
      <inertia
        ixx="0.000163"
        ixy="0"
        ixz="2E-06"
        iyy="0.000162"
        iyz="2E-06"
        izz="0.000146" />
    </inertial>
    <visual>
      <origin
        xyz="0 0 0"
        rpy="0 0 0" />
      <geometry>
        <mesh
          filename="package://HU_D04_description/meshes/HU_D04_01/neck_yaw_link.STL" />
      </geometry>
      <material
        name="">
        <color
          rgba="0.75294 0.75294 0.75294 1" />
      </material>
    </visual>
    <!-- <collision>
      <origin
        xyz="0 0 0"
        rpy="0 0 0" />
      <geometry>
        <mesh
          filename="package://HU_D04_description/meshes/HU_D04_01/neck_yaw_link.STL" />
      </geometry>
    </collision> -->
  </link>
  <joint name="head_yaw_joint"
    type="revolute">
    <origin
      xyz="-0.013 0 0.3882"
      rpy="0 0 0" />
    <parent
      link="waist_pitch_link" />
    <child
      link="head_yaw_link" />
    <axis
      xyz="0 0 1" />
    <limit
      lower="-0.785"
      upper="0.785"
      effort="19"
      velocity="13" />
  </joint>
  <link name="head_pitch_link">
    <inertial>
      <origin
        xyz="0.010255 -0.000319 0.069397"
        rpy="0 0 0" />
      <mass
        value="0.776041" />
      <inertia
        ixx="0.00265"
        ixy="-2E-06"
        ixz="0.000195"
        iyy="0.002337"
        iyz="0"
        izz="0.003495" />
    </inertial>
    <visual>
      <origin
        xyz="0 0 0"
        rpy="0 0 0" />
      <geometry>
        <mesh
          filename="package://HU_D04_description/meshes/HU_D04_01/neck_pitch_link.STL" />
      </geometry>
      <material
        name="">
        <color
          rgba="0.75294 0.75294 0.75294 1" />
      </material>
    </visual>
    <!-- <collision>
      <origin
        xyz="0 0 0"
        rpy="0 0 0" />
      <geometry>
        <mesh
          filename="package://HU_D04_description/meshes/HU_D04_01/neck_pitch_link.STL" />
      </geometry>
    </collision> -->
  </link>
  <joint name="head_pitch_joint"
    type="revolute">
    <origin
      xyz="0 0 0.0395"
      rpy="0 0 0" />
    <parent
      link="head_yaw_link" />
    <child
      link="head_pitch_link" />
    <axis
      xyz="0 1 0" />
    <limit
      lower="-0.524"
      upper="0.785"
      effort="19"
      velocity="13" />
  </joint>
  
  <!-- left hand  -->
  <link
    name="left_transition_link">
    <inertial>
      <origin xyz=".0 .0 .0" rpy="0 0 0" />
      <mass value="0.001" />
      <inertia ixx="0.0000001" ixy="0.0" ixz="0.0" iyy="0.0000001" iyz="0.0" izz="0.0000001" />
    </inertial>
    <visual>
      <origin
        xyz="0 0 0"
        rpy="0 0 0" />
      <geometry>
        <mesh
          filename="../meshes/HU_D04_01/hand_transition_link.STL" />
      </geometry>
      <material
        name="">
        <color
          rgba="1 1 1 1" />
      </material>
    </visual>
    <!-- <collision>
      <origin
        xyz="0 0 0"
        rpy="0 0 0" />
      <geometry>
        <mesh
          filename="../meshes/HU_D04_01/hand_transition_link.STL" />
      </geometry>
    </collision> -->
  </link>
  <joint name="left_transition_joint" type="fixed">
    <origin xyz="0.0 0.0 -0.062" rpy="0 0 0" />
    <parent link="left_wrist_roll_link" />
    <child link="left_transition_link" />
  </joint>
  <link
    name="left_palm_link">
    <inertial>
      <origin
        xyz="-0.00478670623240344 0.00141981128680179 0.0505239077176535"
        rpy="0 0 0" />
      <mass
        value="0.238" />
      <inertia
        ixx="2.2266510056133E-05"
        ixy="-2.6318583761649E-07"
        ixz="1.83638592892823E-07"
        iyy="1.55367220548952E-05"
        iyz="1.26586485241028E-06"
        izz="8.58669326263691E-06" />
    </inertial>
    <visual>
      <origin
        xyz="0 0 0"
        rpy="0 0 0" />
      <geometry>
        <mesh
          filename="package://HU_D04_description/meshes/HU_D04_01/left_base_link.STL" />
      </geometry>
      <material
        name="">
        <color
          rgba="1 1 1 1" />
      </material>
    </visual>
    <!-- <collision>
      <origin
        xyz="0 0 0"
        rpy="0 0 0" />
      <geometry>
        <mesh
          filename="package://HU_D04_description/meshes/HU_D04_01/left_base_link.STL" />
      </geometry>
    </collision> -->
  </link>
  <joint name="left_palm_joint" type="fixed">
    <origin xyz="0 0 -0.08" rpy="3.14159 0 -1.578" />
    <parent link="left_wrist_roll_link" />
    <child link="left_palm_link" />
  </joint>
  <link
    name="left_thumb_metacarpal_link">
    <inertial>
      <origin
        xyz="1.52303696287007E-05 -0.00707240283482268 -0.00420839832903629"
        rpy="0 0 0" />
      <mass
        value="0.01" />
      <inertia
        ixx="1.59238866130872E-07"
        ixy="4.69114607598504E-09"
        ixz="4.93233725002146E-10"
        iyy="1.60911967461755E-07"
        iyz="1.48144948560702E-08"
        izz="5.13544258620214E-08" />
    </inertial>
    <visual>
      <origin
        xyz="0 0 0"
        rpy="0 0 0" />
      <geometry>
        <mesh
          filename="package://HU_D04_description/meshes/HU_D04_01/left_thumb_metacarpal_link.STL" />
      </geometry>
      <material
        name="">
        <color
          rgba="1 1 1 1" />
      </material>
    </visual>
    <!-- <collision>
      <origin
        xyz="0 0 0"
        rpy="0 0 0" />
      <geometry>
        <mesh
          filename="package://HU_D04_description/meshes/HU_D04_01/left_thumb_metacarpal_link.STL" />
      </geometry>
    </collision> -->
  </link>
  <joint
    name="left_thumb_metacarpal_joint"
    type="revolute">
    <origin
      xyz="0.0045 -0.019 0.027825"
      rpy="0 0 0.16787" />
    <parent
      link="left_palm_link" />
    <child
      link="left_thumb_metacarpal_link" />
    <axis
      xyz="0 0 1" />
    <limit
      lower="0"
      upper="1.5184"
      effort="0.5"
      velocity="2.6175" />
  </joint>
  <link
    name="left_thumb_proximal_link">
    <inertial>
      <origin
        xyz="3.41001513141231E-07 0.0250090688174992 -0.0017505675193664"
        rpy="0 0 0" />
      <mass
        value="0.05" />
      <inertia
        ixx="3.23318665954068E-06"
        ixy="1.54514148596387E-10"
        ixz="-1.24375216968143E-11"
        iyy="5.64488567432875E-07"
        iyz="5.04309083812214E-08"
        izz="3.39928573090826E-06" />
    </inertial>
    <visual>
      <origin
        xyz="0 0 0"
        rpy="0 0 0" />
      <geometry>
        <mesh
          filename="package://HU_D04_description/meshes/HU_D04_01/left_thumb_proximal_link.STL" />
      </geometry>
      <material
        name="">
        <color
          rgba="1 1 1 1" />
      </material>
    </visual>
    <!-- <collision>
      <origin
        xyz="0 0 0"
        rpy="0 0 0" />
      <geometry>
        <mesh
          filename="package://HU_D04_description/meshes/HU_D04_01/left_thumb_proximal_link.STL" />
      </geometry>
    </collision> -->
  </link>
  <joint
    name="left_thumb_proximal_joint"
    type="revolute">
    <origin
      xyz="0 -0.014227 0"
      rpy="0.17488 -0.23736 2.9737" />
    <parent
      link="left_thumb_metacarpal_link" />
    <child
      link="left_thumb_proximal_link" />
    <axis
      xyz="1 0 0" />
    <limit
      lower="0"
      upper="1.0472"
      effort="1.1"
      velocity="2.5303" />
  </joint>
  <link
    name="left_thumb_distal_link">
    <inertial>
      <origin
        xyz="-1.65618684180163E-07 0.0117550891981017 1.1366609064185E-05"
        rpy="0 0 0" />
      <mass
        value="0.01" />
      <inertia
        ixx="1.6780928553031E-07"
        ixy="1.91856562375255E-11"
        ixz="-2.694752026736E-12"
        iyy="1.15357239984326E-07"
        iyz="1.25182560702848E-08"
        izz="2.1956615213811E-07" />
    </inertial>
    <visual>
      <origin
        xyz="0 0 0"
        rpy="0 0 0" />
      <geometry>
        <mesh
          filename="package://HU_D04_description/meshes/HU_D04_01/left_thumb_distal_link.STL" />
      </geometry>
      <material
        name="">
        <color
          rgba="1 1 1 1" />
      </material>
    </visual>
    <!-- <collision>
      <origin
        xyz="0 0 0"
        rpy="0 0 0" />
      <geometry>
        <mesh
          filename="package://HU_D04_description/meshes/HU_D04_01/left_thumb_distal_link.STL" />
      </geometry>
    </collision> -->
  </link>
  <joint
    name="left_thumb_distal_joint"
    type="revolute">
    <origin
      xyz="0 0.052 0"
      rpy="0 0 0" />
    <parent
      link="left_thumb_proximal_link" />
    <child
      link="left_thumb_distal_link" />
    <axis
      xyz="1 0 0" />
    <limit
      lower="0"
      upper="1.0472"
      effort="1.1"
      velocity="2.5303" />
    <mimic
      joint="left_thumb_proximal_joint"
      multiplier="1"
      offset="0" />
  </joint>
  <link
    name="left_thumb_tip_link">
    <inertial>
      <origin
        xyz="-4.85722573273506E-17 -4.16333634234434E-17 -3.46944695195361E-18"
        rpy="0 0 0" />
      <mass
        value="0.001" />
      <inertia
        ixx="1.63624617374468E-15"
        ixy="0"
        ixz="0"
        iyy="1.63624617374468E-15"
        iyz="3.85185988877447E-33"
        izz="1.63624617374468E-15" />
    </inertial>
    <visual>
      <origin
        xyz="0 0 0"
        rpy="0 0 0" />
      <geometry>
        <mesh
          filename="package://HU_D04_description/meshes/HU_D04_01/left_thumb_tip_link.STL" />
      </geometry>
      <material
        name="">
        <color
          rgba="1 1 1 1" />
      </material>
    </visual>
    <!-- <collision>
      <origin
        xyz="0 0 0"
        rpy="0 0 0" />
      <geometry>
        <mesh
          filename="package://HU_D04_description/meshes/HU_D04_01/left_thumb_tip_link.STL" />
      </geometry>
    </collision> -->
  </link>
  <joint
    name="left_thumb_tip_joint"
    type="revolute">
    <origin
      xyz="0 0.026528781163583 -0.00177344281307927"
      rpy="0.0667504507189052 0 3.14159265358979" />
    <parent
      link="left_thumb_distal_link" />
    <child
      link="left_thumb_tip_link" />
    <axis
      xyz="-1 0 0" />
    <limit
      lower="0"
      upper="0"
      effort="0"
      velocity="0" />
  </joint>
  <link
    name="left_index_proximal_link">
    <inertial>
      <origin
        xyz="-0.002235387426012 -3.80544615179342E-06 0.0176439423080373"
        rpy="0 0 0" />
      <mass
        value="0.009" />
      <inertia
        ixx="2.51863526940901E-07"
        ixy="-3.10934654014177E-11"
        ixz="-6.36901300651624E-09"
        iyy="2.36343210839019E-07"
        iyz="-1.71663811116817E-10"
        izz="9.30397543724724E-08" />
    </inertial>
    <visual>
      <origin
        xyz="0 0 0"
        rpy="0 0 0" />
      <geometry>
        <mesh
          filename="package://HU_D04_description/meshes/HU_D04_01/left_index_proximal_link.STL" />
      </geometry>
      <material
        name="">
        <color
          rgba="1 1 1 1" />
      </material>
    </visual>
    <!-- <collision>
      <origin
        xyz="0 0 0"
        rpy="0 0 0" />
      <geometry>
        <mesh
          filename="package://HU_D04_description/meshes/HU_D04_01/left_index_proximal_link.STL" />
      </geometry>
    </collision> -->
  </link>
  <joint
    name="left_index_proximal_joint"
    type="revolute">
    <origin
      xyz="-0.0021349 -0.029578 0.080876"
      rpy="0.11819 0.14743 0.17422" />
    <parent
      link="left_palm_link" />
    <child
      link="left_index_proximal_link" />
    <axis
      xyz="0 1 0" />
    <limit
      lower="0"
      upper="1.4661"
      effort="2"
      velocity="2.2685" />
  </joint>
  <link
    name="left_index_distal_link">
    <inertial>
      <origin
        xyz="0.00418325886379583 -8.45607972810303E-08 0.0153641608762859"
        rpy="0 0 0" />
      <mass
        value="0.009" />
      <inertia
        ixx="3.65266271559531E-07"
        ixy="5.6892108332606E-13"
        ixz="-1.02335061442931E-07"
        iyy="3.96961530855654E-07"
        iyz="7.73961385851005E-13"
        izz="1.04991723103838E-07" />
    </inertial>
    <visual>
      <origin
        xyz="0 0 0"
        rpy="0 0 0" />
      <geometry>
        <mesh
          filename="package://HU_D04_description/meshes/HU_D04_01/left_index_distal_link.STL" />
      </geometry>
      <material
        name="">
        <color
          rgba="1 1 1 1" />
      </material>
    </visual>
    <!-- <collision>
      <origin
        xyz="0 0 0"
        rpy="0 0 0" />
      <geometry>
        <mesh
          filename="package://HU_D04_description/meshes/HU_D04_01/left_index_distal_link.STL" />
      </geometry>
    </collision> -->
  </link>
  <joint
    name="left_index_distal_joint"
    type="revolute">
    <origin
      xyz="0 0 0.032"
      rpy="0 0 0" />
    <parent
      link="left_index_proximal_link" />
    <child
      link="left_index_distal_link" />
    <axis
      xyz="0 1 0" />
    <limit
      lower="0"
      upper="1.693"
      effort="2"
      velocity="2.2685" />
    <mimic
      joint="left_index_proximal_joint"
      multiplier="1.155"
      offset="0" />
  </joint>
  <link
    name="left_index_tip_link">
    <inertial>
      <origin
        xyz="6.69832245225876E-13 9.73495589695617E-12 2.23557283796083E-13"
        rpy="0 0 0" />
      <mass
        value="0.001" />
      <inertia
        ixx="1.63624617374468E-15"
        ixy="6.16297582203915E-32"
        ixz="0"
        iyy="1.63624617374468E-15"
        iyz="2.46519032881566E-32"
        izz="1.63624617374468E-15" />
    </inertial>
    <visual>
      <origin
        xyz="0 0 0"
        rpy="0 0 0" />
      <geometry>
        <mesh
          filename="package://HU_D04_description/meshes/HU_D04_01/left_index_tip_link.STL" />
      </geometry>
      <material
        name="">
        <color
          rgba="1 1 1 1" />
      </material>
    </visual>
    <!-- <collision>
      <origin
        xyz="0 0 0"
        rpy="0 0 0" />
      <geometry>
        <mesh
          filename="package://HU_D04_description/meshes/HU_D04_01/left_index_tip_link.STL" />
      </geometry>
    </collision> -->
  </link>
  <joint
    name="left_index_tip_joint"
    type="revolute">
    <origin
      xyz="0.011097 0 0.035739"
      rpy="0 0.48723 0" />
    <parent
      link="left_index_distal_link" />
    <child
      link="left_index_tip_link" />
    <axis
      xyz="0 1 0" />
    <limit
      lower="1"
      upper="1"
      effort="1"
      velocity="1" />
  </joint>
  <link
    name="left_middle_proximal_link">
    <inertial>
      <origin
        xyz="-0.00222419445309931 -3.61990820813615E-06 0.0203049526045434"
        rpy="0 0 0" />
      <mass
        value="0.009" />
      <inertia
        ixx="3.66885320718611E-07"
        ixy="-3.64303343703497E-11"
        ixz="-9.77995332041374E-09"
        iyy="3.5252138716754E-07"
        iyz="-2.5809821190624E-10"
        izz="1.12242284171831E-07" />
    </inertial>
    <visual>
      <origin
        xyz="0 0 0"
        rpy="0 0 0" />
      <geometry>
        <mesh
          filename="package://HU_D04_description/meshes/HU_D04_01/left_middle_proximal_link.STL" />
      </geometry>
      <material
        name="">
        <color
          rgba="1 1 1 1" />
      </material>
    </visual>
    <!-- <collision>
      <origin
        xyz="0 0 0"
        rpy="0 0 0" />
      <geometry>
        <mesh
          filename="package://HU_D04_description/meshes/HU_D04_01/left_middle_proximal_link.STL" />
      </geometry>
    </collision> -->
  </link>
  <joint
    name="left_middle_proximal_joint"
    type="revolute">
    <origin
      xyz="-0.0045935 -0.010061 0.084993"
      rpy="0.039468 0.1483 0.057975" />
    <parent
      link="left_palm_link" />
    <child
      link="left_middle_proximal_link" />
    <axis
      xyz="0 1 0" />
    <limit
      lower="0"
      upper="1.4661"
      effort="2"
      velocity="2.2685" />
  </joint>
  <link
    name="left_middle_distal_link">
    <inertial>
      <origin
        xyz="0.00269750139301865 3.27210103736979E-07 0.0183076461156786"
        rpy="0 0 0" />
      <mass
        value="0.009" />
      <inertia
        ixx="5.88341898887764E-07"
        ixy="-1.34073376318216E-12"
        ixz="-1.04743131832206E-07"
        iyy="6.07118927271625E-07"
        iyz="-1.31817421243194E-11"
        izz="1.11265454837883E-07" />
    </inertial>
    <visual>
      <origin
        xyz="0 0 0"
        rpy="0 0 0" />
      <geometry>
        <mesh
          filename="package://HU_D04_description/meshes/HU_D04_01/left_middle_distal_link.STL" />
      </geometry>
      <material
        name="">
        <color
          rgba="1 1 1 1" />
      </material>
    </visual>
    <!-- <collision>
      <origin
        xyz="0 0 0"
        rpy="0 0 0" />
      <geometry>
        <mesh
          filename="package://HU_D04_description/meshes/HU_D04_01/left_middle_distal_link.STL" />
      </geometry>
    </collision> -->
  </link>
  <joint
    name="left_middle_distal_joint"
    type="revolute">
    <origin
      xyz="0 0 0.037"
      rpy="0 0.12654 0" />
    <parent
      link="left_middle_proximal_link" />
    <child
      link="left_middle_distal_link" />
    <axis
      xyz="0 1 0" />
    <limit
      lower="0"
      upper="1.693"
      effort="2"
      velocity="2.2685" />
    <mimic
      joint="left_middle_proximal_joint"
      multiplier="1.155"
      offset="0" />
  </joint>
  <link
    name="left_middle_tip_link">
    <inertial>
      <origin
        xyz="3.12250225675825E-16 -1.90819582357449E-17 5.55111512312578E-17"
        rpy="0 0 0" />
      <mass
        value="0.001" />
      <inertia
        ixx="1.63624617374468E-15"
        ixy="0"
        ixz="-4.93038065763132E-32"
        iyy="1.63624617374468E-15"
        iyz="9.24446373305873E-33"
        izz="1.63624617374468E-15" />
    </inertial>
    <visual>
      <origin
        xyz="0 0 0"
        rpy="0 0 0" />
      <geometry>
        <mesh
          filename="package://HU_D04_description/meshes/HU_D04_01/left_middle_tip_link.STL" />
      </geometry>
      <material
        name="">
        <color
          rgba="1 1 1 1" />
      </material>
    </visual>
    <!-- <collision>
      <origin
        xyz="0 0 0"
        rpy="0 0 0" />
      <geometry>
        <mesh
          filename="package://HU_D04_description/meshes/HU_D04_01/left_middle_tip_link.STL" />
      </geometry>
    </collision> -->
  </link>
  <joint
    name="left_middle_tip_joint"
    type="revolute">
    <origin
      xyz="0.0073534 0 0.041703"
      rpy="0 0.34907 0" />
    <parent
      link="left_middle_distal_link" />
    <child
      link="left_middle_tip_link" />
    <axis
      xyz="0 1 0" />
    <limit
      lower="1"
      upper="1"
      effort="1"
      velocity="1" />
  </joint>
  <link
    name="left_ring_proximal_link">
    <inertial>
      <origin
        xyz="-0.00234461360118865 -5.32058096490429E-06 0.0191785931520923"
        rpy="0 0 0" />
      <mass
        value="0.009" />
      <inertia
        ixx="3.1418221085363E-07"
        ixy="-3.44825864493742E-11"
        ixz="-7.78011903077359E-09"
        iyy="2.97623388067888E-07"
        iyz="-2.45023710126388E-10"
        izz="1.02120946203075E-07" />
    </inertial>
    <visual>
      <origin
        xyz="0 0 0"
        rpy="0 0 0" />
      <geometry>
        <mesh
          filename="package://HU_D04_description/meshes/HU_D04_01/left_ring_proximal_link.STL" />
      </geometry>
      <material
        name="">
        <color
          rgba="1 1 1 1" />
      </material>
    </visual>
    <!-- <collision>
      <origin
        xyz="0 0 0"
        rpy="0 0 0" />
      <geometry>
        <mesh
          filename="package://HU_D04_description/meshes/HU_D04_01/left_ring_proximal_link.STL" />
      </geometry>
    </collision> -->
  </link>
  <joint
    name="left_ring_proximal_joint"
    type="revolute">
    <origin
      xyz="-0.00468767815858587 0.0100262714211602 0.0839819548795939"
      rpy="-0.0394618478609065 0.147209177132223 -0.0579317909005277" />
    <parent
      link="left_palm_link" />
    <child
      link="left_ring_proximal_link" />
    <axis
      xyz="0 1 0" />
    <limit
      lower="0"
      upper="1.4661"
      effort="2"
      velocity="2.2685" />
  </joint>
  <link
    name="left_ring_distal_link">
    <inertial>
      <origin
        xyz="0.00249839540877306 -2.78996376279483E-08 0.0177055538603162"
        rpy="0 0 0" />
      <mass
        value="0.009" />
      <inertia
        ixx="5.40369389752843E-07"
        ixy="-3.16120850919061E-12"
        ixz="-9.71738751449028E-08"
        iyy="5.56818359755755E-07"
        iyz="-5.08675656941986E-12"
        izz="1.03096676549004E-07" />
    </inertial>
    <visual>
      <origin
        xyz="0 0 0"
        rpy="0 0 0" />
      <geometry>
        <mesh
          filename="package://HU_D04_description/meshes/HU_D04_01/left_ring_distal_link.STL" />
      </geometry>
      <material
        name="">
        <color
          rgba="1 1 1 1" />
      </material>
    </visual>
    <!-- <collision>
      <origin
        xyz="0 0 0"
        rpy="0 0 0" />
      <geometry>
        <mesh
          filename="package://HU_D04_description/meshes/HU_D04_01/left_ring_distal_link.STL" />
      </geometry>
    </collision> -->
  </link>
  <joint
    name="left_ring_distal_joint"
    type="revolute">
    <origin
      xyz="0 0 0.035"
      rpy="0 0.12654 0" />
    <parent
      link="left_ring_proximal_link" />
    <child
      link="left_ring_distal_link" />
    <axis
      xyz="0 1 0" />
    <limit
      lower="0"
      upper="1.693"
      effort="2"
      velocity="2.2685" />
    <mimic
      joint="left_ring_proximal_joint"
      multiplier="1.155"
      offset="0" />
  </joint>
  <link
    name="left_ring_tip_link">
    <inertial>
      <origin
        xyz="3.05311331771918E-16 3.46944695195361E-17 2.77555756156289E-17"
        rpy="0 0 0" />
      <mass
        value="0.001" />
      <inertia
        ixx="1.63624617374468E-15"
        ixy="-1.23259516440783E-32"
        ixz="0"
        iyy="1.63624617374468E-15"
        iyz="0"
        izz="1.63624617374468E-15" />
    </inertial>
    <visual>
      <origin
        xyz="0 0 0"
        rpy="0 0 0" />
      <geometry>
        <mesh
          filename="package://HU_D04_description/meshes/HU_D04_01/left_ring_tip_link.STL" />
      </geometry>
      <material
        name="">
        <color
          rgba="1 1 1 1" />
      </material>
    </visual>
    <!-- <collision>
      <origin
        xyz="0 0 0"
        rpy="0 0 0" />
      <geometry>
        <mesh
          filename="package://HU_D04_description/meshes/HU_D04_01/left_ring_tip_link.STL" />
      </geometry>
    </collision> -->
  </link>
  <joint
    name="left_ring_tip_joint"
    type="revolute">
    <origin
      xyz="0.0071824 0 0.040734"
      rpy="0 0.34907 0" />
    <parent
      link="left_ring_distal_link" />
    <child
      link="left_ring_tip_link" />
    <axis
      xyz="0 1 0" />
    <limit
      lower="1"
      upper="1"
      effort="1"
      velocity="1" />
  </joint>
  <link
    name="left_pinky_proximal_link">
    <inertial>
      <origin
        xyz="-0.00213266608574047 -7.02260316783054E-06 0.0160680350593264"
        rpy="0 0 0" />
      <mass
        value="0.009" />
      <inertia
        ixx="1.97554078210582E-07"
        ixy="-1.34133676966608E-11"
        ixz="-4.58601823842206E-09"
        iyy="1.82022483454667E-07"
        iyz="-1.01838144940489E-10"
        izz="8.21758160050774E-08" />
    </inertial>
    <visual>
      <origin
        xyz="0 0 0"
        rpy="0 0 0" />
      <geometry>
        <mesh
          filename="package://HU_D04_description/meshes/HU_D04_01/left_pinky_proximal_link.STL" />
      </geometry>
      <material
        name="">
        <color
          rgba="1 1 1 1" />
      </material>
    </visual>
    <!-- <collision>
      <origin
        xyz="0 0 0"
        rpy="0 0 0" />
      <geometry>
        <mesh
          filename="package://HU_D04_description/meshes/HU_D04_01/left_pinky_proximal_link.STL" />
      </geometry>
    </collision> -->
  </link>
  <joint
    name="left_pinky_proximal_joint"
    type="revolute">
    <origin
      xyz="-0.0023733 0.029356 0.078694"
      rpy="-0.11815 0.14491 -0.17392" />
    <parent
      link="left_palm_link" />
    <child
      link="left_pinky_proximal_link" />
    <axis
      xyz="0 1 0" />
    <limit
      lower="0"
      upper="1.4661"
      effort="2"
      velocity="2.2685" />
  </joint>
  <link
    name="left_pinky_distal_link">
    <inertial>
      <origin
        xyz="0.0039856213046876 -8.08551930131518E-08 0.014106664402408"
        rpy="0 0 0" />
      <mass
        value="0.009" />
      <inertia
        ixx="2.88250623683654E-07"
        ixy="-1.42865648587319E-12"
        ixz="-7.78112273929214E-08"
        iyy="3.10833114148178E-07"
        iyz="1.51641220465817E-13"
        izz="9.12872269672051E-08" />
    </inertial>
    <visual>
      <origin
        xyz="0 0 0"
        rpy="0 0 0" />
      <geometry>
        <mesh
          filename="package://HU_D04_description/meshes/HU_D04_01/left_pinky_distal_link.STL" />
      </geometry>
      <material
        name="">
        <color
          rgba="1 1 1 1" />
      </material>
    </visual>
    <!-- <collision>
      <origin
        xyz="0 0 0"
        rpy="0 0 0" />
      <geometry>
        <mesh
          filename="package://HU_D04_description/meshes/HU_D04_01/left_pinky_distal_link.STL" />
      </geometry>
    </collision> -->
  </link>
  <joint
    name="left_pinky_distal_joint"
    type="revolute">
    <origin
      xyz="0 0 0.029"
      rpy="0 0 0" />
    <parent
      link="left_pinky_proximal_link" />
    <child
      link="left_pinky_distal_link" />
    <axis
      xyz="0 1 0" />
    <limit
      lower="0"
      upper="1.693"
      effort="2"
      velocity="2.2685" />
    <mimic
      joint="left_pinky_proximal_joint"
      multiplier="1.155"
      offset="0" />
  </joint>
  <link
    name="left_pinky_tip_link">
    <inertial>
      <origin
        xyz="2.63677968348475E-16 -4.09394740330526E-16 5.55111512312578E-17"
        rpy="0 0 0" />
      <mass
        value="0.001" />
      <inertia
        ixx="1.63624617374468E-15"
        ixy="1.23259516440783E-32"
        ixz="0"
        iyy="1.63624617374468E-15"
        iyz="-2.46519032881566E-32"
        izz="1.63624617374468E-15" />
    </inertial>
    <visual>
      <origin
        xyz="0 0 0"
        rpy="0 0 0" />
      <geometry>
        <mesh
          filename="package://HU_D04_description/meshes/HU_D04_01/left_pinky_tip_link.STL" />
      </geometry>
      <material
        name="">
        <color
          rgba="1 1 1 1" />
      </material>
    </visual>
    <!-- <collision>
      <origin
        xyz="0 0 0"
        rpy="0 0 0" />
      <geometry>
        <mesh
          filename="package://HU_D04_description/meshes/HU_D04_01/left_pinky_tip_link.STL" />
      </geometry>
    </collision> -->
  </link>
  <joint
    name="left_pinky_tip_joint"
    type="revolute">
    <origin
      xyz="0.010221 0 0.032918"
      rpy="0 0.4756 0" />
    <parent
      link="left_pinky_distal_link" />
    <child
      link="left_pinky_tip_link" />
    <axis
      xyz="0 1 0" />
    <limit
      lower="1"
      upper="1"
      effort="1"
      velocity="1" />
  </joint>

  <!-- right hand -->
  <link
    name="right_transition_link">
    <inertial>
      <origin xyz=".0 .0 .0" rpy="0 0 0" />
      <mass value="0.001" />
      <inertia ixx="0.0000001" ixy="0.0" ixz="0.0" iyy="0.0000001" iyz="0.0" izz="0.0000001" />
    </inertial>
    <visual>
      <origin
        xyz="0 0 0"
        rpy="0 0 0" />
      <geometry>
        <mesh
          filename="../meshes/HU_D04_01/hand_transition_link.STL" />
      </geometry>
      <material
        name="">
        <color
          rgba="1 1 1 1" />
      </material>
    </visual>
    <!-- <collision>
      <origin
        xyz="0 0 0"
        rpy="0 0 0" />
      <geometry>
        <mesh
          filename="../meshes/HU_D04_01/hand_transition_link.STL" />
      </geometry>
    </collision> -->
  </link>
  <joint name="right_transition_joint" type="fixed">
    <origin xyz="0.0 0.0 -0.062" rpy="0 0 0" />
    <parent link="right_wrist_roll_link" />
    <child link="right_transition_link" />
  </joint>
  <link
    name="right_palm_link">
    <inertial>
      <origin
        xyz="-0.00477210157415217 -0.0014368255627066 0.0505186815078315"
        rpy="0 0 0" />
      <mass
        value="0.238" />
      <inertia
        ixx="2.22653147661907E-05"
        ixy="2.61914657870284E-07"
        ixz="1.85322175528149E-07"
        iyy="1.55386682543955E-05"
        iyz="-1.26178670079141E-06"
        izz="8.58493952480684E-06" />
    </inertial>
    <visual>
      <origin
        xyz="0 0 0"
        rpy="0 0 0" />
      <geometry>
        <mesh
          filename="package://HU_D04_description/meshes/HU_D04_01/right_base_link.STL" />
      </geometry>
      <material
        name="">
        <color
          rgba="1 1 1 1" />
      </material>
    </visual>
    <!-- <collision>
      <origin
        xyz="0 0 0"
        rpy="0 0 0" />
      <geometry>
        <mesh
          filename="package://HU_D04_description/meshes/HU_D04_01/right_base_link.STL" />
      </geometry>
    </collision> -->
  </link>
  <joint name="right_palm_joint" type="fixed">
    <origin xyz="0 0 -0.08" rpy="3.14159 0 1.578" />
    <parent link="right_wrist_roll_link" />
    <child link="right_palm_link" />
  </joint>

  <link
    name="right_thumb_metacarpal_link">
    <inertial>
      <origin
        xyz="-1.51105893291953E-05 0.00707242532016975 0.00420847293427094"
        rpy="0 0 0" />
      <mass
        value="0.01" />
      <inertia
        ixx="1.59239837111329E-07"
        ixy="4.69100836631313E-09"
        ixz="4.92933775261589E-10"
        iyy="1.60913456568321E-07"
        iyz="1.48146725871811E-08"
        izz="5.13550255314669E-08" />
    </inertial>
    <visual>
      <origin
        xyz="0 0 0"
        rpy="0 0 0" />
      <geometry>
        <mesh
          filename="package://HU_D04_description/meshes/HU_D04_01/right_thumb_metacarpal_link.STL" />
      </geometry>
      <material
        name="">
        <color
          rgba="1 1 1 1" />
      </material>
    </visual>
    <!-- <collision>
      <origin
        xyz="0 0 0"
        rpy="0 0 0" />
      <geometry>
        <mesh
          filename="package://HU_D04_description/meshes/HU_D04_01/right_thumb_metacarpal_link.STL" />
      </geometry>
    </collision> -->
  </link>
  <joint
    name="right_thumb_metacarpal_joint"
    type="revolute">
    <origin
      xyz="0.005619 0.019867 0.027825"
      rpy="3.1416 0 2.9637" />
    <parent
      link="right_palm_link" />
    <child
      link="right_thumb_metacarpal_link" />
    <axis
      xyz="0 0 1" />
    <limit
      lower="0"
      upper="1.5184"
      effort="0.5"
      velocity="2.6175" />
  </joint>
  <link
    name="right_thumb_proximal_link">
    <inertial>
      <origin
        xyz="-4.57221370792071E-07 0.0250090111157988 -0.0017504940716868"
        rpy="0 0 0" />
      <mass
        value="0.05" />
      <inertia
        ixx="3.23319868561771E-06"
        ixy="-1.19078810940838E-10"
        ixz="1.24464917587322E-11"
        iyy="5.64505997265396E-07"
        iyz="5.04129402047053E-08"
        izz="3.39928433889051E-06" />
    </inertial>
    <visual>
      <origin
        xyz="0 0 0"
        rpy="0 0 0" />
      <geometry>
        <mesh
          filename="package://HU_D04_description/meshes/HU_D04_01/right_thumb_proximal_link.STL" />
      </geometry>
      <material
        name="">
        <color
          rgba="1 1 1 1" />
      </material>
    </visual>
    <!-- <collision>
      <origin
        xyz="0 0 0"
        rpy="0 0 0" />
      <geometry>
        <mesh
          filename="package://HU_D04_description/meshes/HU_D04_01/right_thumb_proximal_link.STL" />
      </geometry>
    </collision> -->
  </link>
  <joint
    name="right_thumb_proximal_joint"
    type="revolute">
    <origin
      xyz="0 0.014227 0"
      rpy="-2.9667 -0.23736 2.9737" />
    <parent
      link="right_thumb_metacarpal_link" />
    <child
      link="right_thumb_proximal_link" />
    <axis
      xyz="1 0 0" />
    <limit
      lower="0"
      upper="1.0472"
      effort="1.1"
      velocity="2.5303" />
  </joint>
  <link
    name="right_thumb_distal_link">
    <inertial>
      <origin
        xyz="-5.88258313588552E-09 0.0117544716247142 1.13324397438969E-05"
        rpy="0 0 0" />
      <mass
        value="0.01" />
      <inertia
        ixx="1.67793545309794E-07"
        ixy="7.15927847824524E-12"
        ixz="-6.80095370887594E-12"
        iyy="1.15362128819332E-07"
        iyz="1.2517499089377E-08"
        izz="2.19553178338424E-07" />
    </inertial>
    <visual>
      <origin
        xyz="0 0 0"
        rpy="0 0 0" />
      <geometry>
        <mesh
          filename="package://HU_D04_description/meshes/HU_D04_01/right_thumb_distal_link.STL" />
      </geometry>
      <material
        name="">
        <color
          rgba="1 1 1 1" />
      </material>
    </visual>
    <!-- <collision>
      <origin
        xyz="0 0 0"
        rpy="0 0 0" />
      <geometry>
        <mesh
          filename="package://HU_D04_description/meshes/HU_D04_01/right_thumb_distal_link.STL" />
      </geometry>
    </collision> -->
  </link>
  <joint
    name="right_thumb_distal_joint"
    type="revolute">
    <origin
      xyz="0 0.052 0"
      rpy="0 0 0" />
    <parent
      link="right_thumb_proximal_link" />
    <child
      link="right_thumb_distal_link" />
    <axis
      xyz="1 0 0" />
    <limit
      lower="0"
      upper="1.0472"
      effort="1.1"
      velocity="2.5303" />
    <mimic
      joint="right_thumb_proximal_joint"
      multiplier="1"
      offset="0" />
  </joint>
  <link
    name="right_thumb_tip">
    <inertial>
      <origin
        xyz="0 -8.79922039356273E-05 -1.73472347597681E-18"
        rpy="0 0 0" />
      <mass
        value="0.001" />
      <inertia
        ixx="1.63624617374468E-15"
        ixy="-6.16297582203915E-33"
        ixz="-4.93038065763132E-32"
        iyy="1.63624617374468E-15"
        iyz="1.00148357108136E-32"
        izz="1.63624617374469E-15" />
    </inertial>
    <visual>
      <origin
        xyz="0 0 0"
        rpy="0 0 0" />
      <geometry>
        <mesh
          filename="package://HU_D04_description/meshes/HU_D04_01/right_thumb_tip.STL" />
      </geometry>
      <material
        name="">
        <color
          rgba="1 1 1 1" />
      </material>
    </visual>
    <!-- <collision>
      <origin
        xyz="0 0 0"
        rpy="0 0 0" />
      <geometry>
        <mesh
          filename="package://HU_D04_description/meshes/HU_D04_01/right_thumb_tip.STL" />
      </geometry>
    </collision> -->
  </link>
  <joint
    name="right_thumb_tip"
    type="revolute">
    <origin
      xyz="0 0.026529 -0.0017734"
      rpy="-0.06675 0 0" />
    <parent
      link="right_thumb_distal_link" />
    <child
      link="right_thumb_tip" />
    <axis
      xyz="1 0 0" />
    <limit
      lower="0"
      upper="0"
      effort="0"
      velocity="0" />
  </joint>
  <link
    name="right_index_proximal_link">
    <inertial>
      <origin
        xyz="-0.00223495193199565 3.15874577787312E-06 0.0176402020341366"
        rpy="0 0 0" />
      <mass
        value="0.009" />
      <inertia
        ixx="2.51945688372283E-07"
        ixy="1.19772964297344E-11"
        ixz="-6.37275644668915E-09"
        iyy="2.36435336139899E-07"
        iyz="1.65019165740605E-10"
        izz="9.30351046594029E-08" />
    </inertial>
    <visual>
      <origin
        xyz="0 0 0"
        rpy="0 0 0" />
      <geometry>
        <mesh
          filename="package://HU_D04_description/meshes/HU_D04_01/right_index_proximal_link.STL" />
      </geometry>
      <material
        name="">
        <color
          rgba="1 1 1 1" />
      </material>
    </visual>
    <!-- <collision>
      <origin
        xyz="0 0 0"
        rpy="0 0 0" />
      <geometry>
        <mesh
          filename="package://HU_D04_description/meshes/HU_D04_01/right_index_proximal_link.STL" />
      </geometry>
    </collision> -->
  </link>
  <joint
    name="right_index_proximal_joint"
    type="revolute">
    <origin
      xyz="-0.0021181 0.029568 0.080876"
      rpy="-0.11819 0.14743 -0.17422" />
    <parent
      link="right_palm_link" />
    <child
      link="right_index_proximal_link" />
    <axis
      xyz="0 1 0" />
    <limit
      lower="0"
      upper="1.4661"
      effort="2"
      velocity="2.2685" />
  </joint>
  <link
    name="right_index_distal_link">
    <inertial>
      <origin
        xyz="0.0041834128909843 1.16430016613989E-07 0.0153643358620559"
        rpy="0 0 0" />
      <mass
        value="0.009" />
      <inertia
        ixx="3.65279317721019E-07"
        ixy="-2.87605986323987E-12"
        ixz="-1.02338200214364E-07"
        iyy="3.96973285716405E-07"
        iyz="-3.64509010623639E-12"
        izz="1.04994687350786E-07" />
    </inertial>
    <visual>
      <origin
        xyz="0 0 0"
        rpy="0 0 0" />
      <geometry>
        <mesh
          filename="package://HU_D04_description/meshes/HU_D04_01/right_index_distal_link.STL" />
      </geometry>
      <material
        name="">
        <color
          rgba="1 1 1 1" />
      </material>
    </visual>
    <!-- <collision>
      <origin
        xyz="0 0 0"
        rpy="0 0 0" />
      <geometry>
        <mesh
          filename="package://HU_D04_description/meshes/HU_D04_01/right_index_distal_link.STL" />
      </geometry>
    </collision> -->
  </link>
  <joint
    name="right_index_distal_joint"
    type="revolute">
    <origin
      xyz="0 0 0.032"
      rpy="0 0 0" />
    <parent
      link="right_index_proximal_link" />
    <child
      link="right_index_distal_link" />
    <axis
      xyz="0 1 0" />
    <limit
      lower="0"
      upper="1.693"
      effort="2"
      velocity="2.2685" />
    <mimic
      joint="right_index_proximal_joint"
      multiplier="1.155"
      offset="0" />
  </joint>
  <link
    name="right_index_tip">
    <inertial>
      <origin
        xyz="0 6.93889390390723E-18 2.77555756156289E-17"
        rpy="0 0 0" />
      <mass
        value="0.001" />
      <inertia
        ixx="1.63624617374468E-15"
        ixy="-4.93038065763132E-32"
        ixz="0"
        iyy="1.63624617374468E-15"
        iyz="-1.23259516440783E-32"
        izz="1.63624617374468E-15" />
    </inertial>
    <visual>
      <origin
        xyz="0 0 0"
        rpy="0 0 0" />
      <geometry>
        <mesh
          filename="package://HU_D04_description/meshes/HU_D04_01/right_index_tip.STL" />
      </geometry>
      <material
        name="">
        <color
          rgba="1 1 1 1" />
      </material>
    </visual>
    <!-- <collision>
      <origin
        xyz="0 0 0"
        rpy="0 0 0" />
      <geometry>
        <mesh
          filename="package://HU_D04_description/meshes/HU_D04_01/right_index_tip.STL" />
      </geometry>
    </collision> -->
  </link>
  <joint
    name="right_index_tip_joint"
    type="revolute">
    <origin
      xyz="0.011097 0 0.035739"
      rpy="0 0.4756 0" />
    <parent
      link="right_index_distal_link" />
    <child
      link="right_index_tip" />
    <axis
      xyz="0 1 0" />
    <limit
      lower="0"
      upper="0"
      effort="0"
      velocity="0" />
  </joint>
  <link
    name="right_middle_proximal_link">
    <inertial>
      <origin
        xyz="-0.00222511101223747 5.25632286623237E-06 0.0203007776295123"
        rpy="0 0 0" />
      <mass
        value="0.009" />
      <inertia
        ixx="3.6699623719538E-07"
        ixy="2.68340899395606E-11"
        ixz="-9.79836587937101E-09"
        iyy="3.52645347928613E-07"
        iyz="2.57865582739813E-10"
        izz="1.12233932527467E-07" />
    </inertial>
    <visual>
      <origin
        xyz="0 0 0"
        rpy="0 0 0" />
      <geometry>
        <mesh
          filename="package://HU_D04_description/meshes/HU_D04_01/right_middle_proximal_link.STL" />
      </geometry>
      <material
        name="">
        <color
          rgba="1 1 1 1" />
      </material>
    </visual>
    <!-- <collision>
      <origin
        xyz="0 0 0"
        rpy="0 0 0" />
      <geometry>
        <mesh
          filename="package://HU_D04_description/meshes/HU_D04_01/right_middle_proximal_link.STL" />
      </geometry>
    </collision> -->
  </link>
  <joint
    name="right_middle_proximal_joint"
    type="revolute">
    <origin
      xyz="-0.0045767 0.010051 0.084993"
      rpy="-0.039468 0.1483 -0.057975" />
    <parent
      link="right_palm_link" />
    <child
      link="right_middle_proximal_link" />
    <axis
      xyz="0 1 0" />
    <limit
      lower="0"
      upper="1.4661"
      effort="2"
      velocity="2.2685" />
  </joint>
  <link
    name="right_middle_distal_link">
    <inertial>
      <origin
        xyz="0.00498634699274855 3.20799606209204E-07 0.0178210324631583"
        rpy="0 0 0" />
      <mass
        value="0.009" />
      <inertia
        ixx="5.54531287704842E-07"
        ixy="-3.8261699427749E-12"
        ixz="-1.61139304348347E-07"
        iyy="6.07133284933246E-07"
        iyz="-1.20510743801577E-11"
        izz="1.45091120995859E-07" />
    </inertial>
    <visual>
      <origin
        xyz="0 0 0"
        rpy="0 0 0" />
      <geometry>
        <mesh
          filename="package://HU_D04_description/meshes/HU_D04_01/right_middle_distal_link.STL" />
      </geometry>
      <material
        name="">
        <color
          rgba="1 1 1 1" />
      </material>
    </visual>
    <!-- <collision>
      <origin
        xyz="0 0 0"
        rpy="0 0 0" />
      <geometry>
        <mesh
          filename="package://HU_D04_description/meshes/HU_D04_01/right_middle_distal_link.STL" />
      </geometry>
    </collision> -->
  </link>
  <joint
    name="right_middle_distal_joint"
    type="revolute">
    <origin
      xyz="0 0 0.037"
      rpy="0 0 0" />
    <parent
      link="right_middle_proximal_link" />
    <child
      link="right_middle_distal_link" />
    <axis
      xyz="0 1 0" />
    <limit
      lower="0"
      upper="1.693"
      effort="2"
      velocity="2.2685" />
    <mimic
      joint="right_middle_proximal_joint"
      multiplier="1.155"
      offset="0" />
  </joint>
  <link
    name="right_middle_tip">
    <inertial>
      <origin
        xyz="0 -3.46944695195361E-18 0"
        rpy="0 0 0" />
      <mass
        value="0.001" />
      <inertia
        ixx="1.63624617374468E-15"
        ixy="-6.16297582203915E-33"
        ixz="9.86076131526265E-32"
        iyy="1.63624617374468E-15"
        iyz="3.08148791101958E-33"
        izz="1.63624617374468E-15" />
    </inertial>
    <visual>
      <origin
        xyz="0 0 0"
        rpy="0 0 0" />
      <geometry>
        <mesh
          filename="package://HU_D04_description/meshes/HU_D04_01/right_middle_tip.STL" />
      </geometry>
      <material
        name="">
        <color
          rgba="1 1 1 1" />
      </material>
    </visual>
    <!-- <collision>
      <origin
        xyz="0 0 0"
        rpy="0 0 0" />
      <geometry>
        <mesh
          filename="package://HU_D04_description/meshes/HU_D04_01/right_middle_tip.STL" />
      </geometry>
    </collision> -->
  </link>
  <joint
    name="right_middle_tip_joint"
    type="revolute">
    <origin
      xyz="0.012558 0 0.040442"
      rpy="0 0.4756 0" />
    <parent
      link="right_middle_distal_link" />
    <child
      link="right_middle_tip" />
    <axis
      xyz="0 1 0" />
    <limit
      lower="0"
      upper="0"
      effort="0"
      velocity="0" />
  </joint>
  <link
    name="right_ring_proximal_link">
    <inertial>
      <origin
        xyz="-0.00234494526421452 5.87954755615957E-06 0.019177402549597"
        rpy="0 0 0" />
      <mass
        value="0.009" />
      <inertia
        ixx="3.14177684848335E-07"
        ixy="3.34382331089794E-11"
        ixz="-7.78981780892178E-09"
        iyy="2.97613170150896E-07"
        iyz="2.41251871803812E-10"
        izz="1.0211543233675E-07" />
    </inertial>
    <visual>
      <origin
        xyz="0 0 0"
        rpy="0 0 0" />
      <geometry>
        <mesh
          filename="package://HU_D04_description/meshes/HU_D04_01/right_ring_proximal_link.STL" />
      </geometry>
      <material
        name="">
        <color
          rgba="1 1 1 1" />
      </material>
    </visual>
    <!-- <collision>
      <origin
        xyz="0 0 0"
        rpy="0 0 0" />
      <geometry>
        <mesh
          filename="package://HU_D04_description/meshes/HU_D04_01/right_ring_proximal_link.STL" />
      </geometry>
    </collision> -->
  </link>
  <joint
    name="right_ring_proximal_joint"
    type="revolute">
    <origin
      xyz="-0.0046709 -0.010037 0.083982"
      rpy="0.039462 0.14721 0.057932" />
    <parent
      link="right_palm_link" />
    <child
      link="right_ring_proximal_link" />
    <axis
      xyz="0 1 0" />
    <limit
      lower="0"
      upper="1.4661"
      effort="2"
      velocity="2.2685" />
  </joint>
  <link
    name="right_ring_distal_link">
    <inertial>
      <origin
        xyz="0.0047128205390484 -2.41851534580478E-08 0.0172486576240172"
        rpy="0 0 0" />
      <mass
        value="0.009" />
      <inertia
        ixx="5.09075595345636E-07"
        ixy="-3.1183534714212E-12"
        ixz="-1.48822343330519E-07"
        iyy="5.56818020505642E-07"
        iyz="-3.81405399596009E-12"
        izz="1.34389180077007E-07" />
    </inertial>
    <visual>
      <origin
        xyz="0 0 0"
        rpy="0 0 0" />
      <geometry>
        <mesh
          filename="package://HU_D04_description/meshes/HU_D04_01/right_ring_distal_link.STL" />
      </geometry>
      <material
        name="">
        <color
          rgba="1 1 1 1" />
      </material>
    </visual>
    <!-- <collision>
      <origin
        xyz="0 0 0"
        rpy="0 0 0" />
      <geometry>
        <mesh
          filename="package://HU_D04_description/meshes/HU_D04_01/right_ring_distal_link.STL" />
      </geometry>
    </collision> -->
  </link>
  <joint
    name="right_ring_distal_joint"
    type="revolute">
    <origin
      xyz="0 0 0.035"
      rpy="0 0 0" />
    <parent
      link="right_ring_proximal_link" />
    <child
      link="right_ring_distal_link" />
    <axis
      xyz="0 1 0" />
    <limit
      lower="0"
      upper="1.693"
      effort="2"
      velocity="2.2685" />
    <mimic
      joint="right_ring_proximal_joint"
      multiplier="1.155"
      offset="0" />
  </joint>
  <link
    name="right_ring_tip">
    <inertial>
      <origin
        xyz="0 0 0"
        rpy="0 0 0" />
      <mass
        value="0.001" />
      <inertia
        ixx="1.63624617374468E-15"
        ixy="-6.16297582203915E-33"
        ixz="9.86076131526265E-32"
        iyy="1.63624617374468E-15"
        iyz="0"
        izz="1.63624617374468E-15" />
    </inertial>
    <visual>
      <origin
        xyz="0 0 0"
        rpy="0 0 0" />
      <geometry>
        <mesh
          filename="package://HU_D04_description/meshes/HU_D04_01/right_ring_tip.STL" />
      </geometry>
      <material
        name="">
        <color
          rgba="1 1 1 1" />
      </material>
    </visual>
    <!-- <collision>
      <origin
        xyz="0 0 0"
        rpy="0 0 0" />
      <geometry>
        <mesh
          filename="package://HU_D04_description/meshes/HU_D04_01/right_ring_tip.STL" />
      </geometry>
    </collision> -->
  </link>
  <joint
    name="right_ring_tip_joint"
    type="revolute">
    <origin
      xyz="0.012266 0 0.039501"
      rpy="0 0.4756 0" />
    <parent
      link="right_ring_distal_link" />
    <child
      link="right_ring_tip" />
    <axis
      xyz="0 1 0" />
    <limit
      lower="0"
      upper="0"
      effort="0"
      velocity="0" />
  </joint>
  <link
    name="right_pinky_proximal_link">
    <inertial>
      <origin
        xyz="-0.00213212021184178 7.75039446098032E-06 0.0160671583560383"
        rpy="0 0 0" />
      <mass
        value="0.009" />
      <inertia
        ixx="1.97563213550085E-07"
        ixy="2.23402433057897E-11"
        ixz="-4.5842566369208E-09"
        iyy="1.82023043083307E-07"
        iyz="1.08028441152503E-10"
        izz="8.21624712033168E-08" />
    </inertial>
    <visual>
      <origin
        xyz="0 0 0"
        rpy="0 0 0" />
      <geometry>
        <mesh
          filename="package://HU_D04_description/meshes/HU_D04_01/right_pinky_proximal_link.STL" />
      </geometry>
      <material
        name="">
        <color
          rgba="1 1 1 1" />
      </material>
    </visual>
    <!-- <collision>
      <origin
        xyz="0 0 0"
        rpy="0 0 0" />
      <geometry>
        <mesh
          filename="package://HU_D04_description/meshes/HU_D04_01/right_pinky_proximal_link.STL" />
      </geometry>
    </collision> -->
  </link>
  <joint
    name="right_pinky_proximal_joint"
    type="revolute">
    <origin
      xyz="-0.0023566 -0.029366 0.078694"
      rpy="0.11815 0.14491 0.17392" />
    <parent
      link="right_palm_link" />
    <child
      link="right_pinky_proximal_link" />
    <axis
      xyz="0 1 0" />
    <limit
      lower="0"
      upper="1.4661"
      effort="2"
      velocity="2.2685" />
  </joint>
  <link
    name="right_pinky_distal_link">
    <inertial>
      <origin
        xyz="0.00398575709812823 -1.18733454507539E-07 0.0141073520225541"
        rpy="0 0 0" />
      <mass
        value="0.009" />
      <inertia
        ixx="2.88287304139793E-07"
        ixy="8.06230341569425E-13"
        ixz="-7.78224822397468E-08"
        iyy="3.10873492837471E-07"
        iyz="3.24621869724066E-12"
        izz="9.12935606299289E-08" />
    </inertial>
    <visual>
      <origin
        xyz="0 0 0"
        rpy="0 0 0" />
      <geometry>
        <mesh
          filename="package://HU_D04_description/meshes/HU_D04_01/right_pinky_distal_link.STL" />
      </geometry>
      <material
        name="">
        <color
          rgba="1 1 1 1" />
      </material>
    </visual>
    <!-- <collision>
      <origin
        xyz="0 0 0"
        rpy="0 0 0" />
      <geometry>
        <mesh
          filename="package://HU_D04_description/meshes/HU_D04_01/right_pinky_distal_link.STL" />
      </geometry>
    </collision> -->
  </link>
  <joint
    name="right_pinky_distal_joint"
    type="revolute">
    <origin
      xyz="0 0 0.029"
      rpy="0 0 0" />
    <parent
      link="right_pinky_proximal_link" />
    <child
      link="right_pinky_distal_link" />
    <axis
      xyz="0 1 0" />
    <limit
      lower="0"
      upper="1.693"
      effort="2"
      velocity="2.2685" />
    <mimic
      joint="right_pinky_proximal_joint"
      multiplier="1.155"
      offset="0" />
  </joint>
  <link
    name="right_pinky_tip">
    <inertial>
      <origin
        xyz="3.46944695195361E-18 -5.20417042793042E-18 0"
        rpy="0 0 0" />
      <mass
        value="0.001" />
      <inertia
        ixx="1.63624617374468E-15"
        ixy="0"
        ixz="0"
        iyy="1.63624617374468E-15"
        iyz="4.93038065763132E-32"
        izz="1.63624617374468E-15" />
    </inertial>
    <visual>
      <origin
        xyz="0 0 0"
        rpy="0 0 0" />
      <geometry>
        <mesh
          filename="package://HU_D04_description/meshes/HU_D04_01/right_pinky_tip.STL" />
      </geometry>
      <material
        name="">
        <color
          rgba="1 1 1 1" />
      </material>
    </visual>
    <!-- <collision>
      <origin
        xyz="0 0 0"
        rpy="0 0 0" />
      <geometry>
        <mesh
          filename="package://HU_D04_description/meshes/HU_D04_01/right_pinky_tip.STL" />
      </geometry>
    </collision> -->
  </link>
  <joint
    name="right_pinky_tip_joint"
    type="revolute">
    <origin
      xyz="0.010221 0 0.032918"
      rpy="0 0.4756 0" />
    <parent
      link="right_pinky_distal_link" />
    <child
      link="right_pinky_tip" />
    <axis
      xyz="0 1 0" />
    <limit
      lower="0"
      upper="0"
      effort="0"
      velocity="0" />
  </joint>

  <!-- Camera -->
  <!-- <joint name="waist_camera_joint" type="fixed">
    <origin rpy="0.0 2.1818 0.0" xyz="0.092 0.0175 0.2751"/>
    <parent link="waist_pitch_link"/>
    <child link="waist_camera_link"/>
  </joint>
  <link name="waist_camera_link">
    <visual>
        <origin rpy="0 0 0" xyz="0 0 0"/>
        <geometry>
            <mesh filename="package://HU_D04_description/meshes/HU_D04_01/d435_link.STL"/>
        </geometry>
    </visual>
  </link>

  <joint name="head_camera_joint" type="fixed">
    <origin rpy="0.0 1.5708 0.0" xyz="0.07453 0.0175 0.065"/>
    <parent link="head_pitch_link"/>
    <child link="head_camera_link"/>
  </joint>
  <link name="head_camera_link">
    <visual>
        <origin rpy="0 0 0" xyz="0 0 0"/>
        <geometry>
            <mesh filename="package://HU_D04_description/meshes/HU_D04_01/d435_link.STL"/>
        </geometry>
    </visual>
  </link> -->
</robot>
